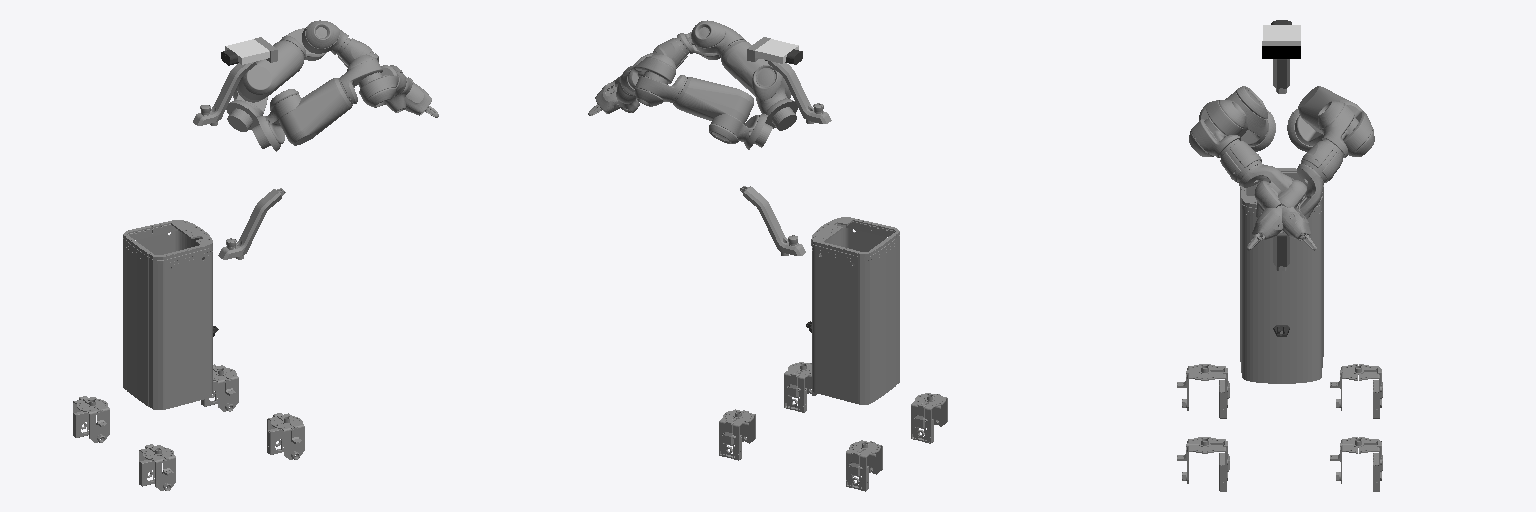
--- What the picture shows (computed from the rendered views, not written in the file) ---
3 views of the same robot in one strip: view 1: azimuth 30°, elevation 25°; view 2: azimuth 150°, elevation 25°; view 3: azimuth 270°, elevation 25° (orthographic).
Robot: abb_myumi_v2 — 68 links, 67 joints (20 revolute, 4 continuous, 1 prismatic, 42 fixed); root link base_link; default pose: every joint at zero.
Links seen in each view (by area): view 1: pillar_body_link, yumi_robr_link_2, yumi_robl_link_2, yumi_robl_link_4, front_right_steering_link, yumi_robr_link_1, rear_left_steering_link, rear_right_steering_link, yumi_robr_link_4, yumi_base_link, yumi_cs_base_link, front_left_steering_link (+4 smaller); view 2: pillar_body_link, yumi_robl_link_2, yumi_robr_link_1, yumi_robl_link_1, rear_left_steering_link, rear_right_steering_link, front_left_steering_link, yumi_base_link, yumi_robl_link_4, yumi_robr_link_3, front_right_steering_link, yumi_robr_link_2 (+4 smaller); view 3: pillar_body_link, yumi_robl_link_4, yumi_robr_link_4, yumi_robr_link_1, yumi_robr_link_3, rear_right_steering_link, front_right_steering_link, front_left_steering_link, rear_left_steering_link, yumi_robl_link_3, yumi_robl_link_2, yumi_robl_link_5 (+9 smaller).
Link boxes in pixels (x1,y1,x2,y2): pillar_body_link: (123,220,212,409); yumi_robr_link_2: (279,78,352,145); yumi_robl_link_2: (237,41,303,102); yumi_robl_link_4: (302,20,373,67); front_right_steering_link: (267,413,304,459); yumi_robr_link_1: (252,89,301,151); rear_left_steering_link: (73,396,109,442); rear_right_steering_link: (139,444,175,490); yumi_robr_link_4: (358,65,406,107); yumi_base_link: (218,188,285,259); yumi_cs_base_link: (193,61,256,125); front_left_steering_link: (201,364,238,411); pillar_body_link: (811,217,899,404); yumi_robl_link_2: (673,77,753,123); yumi_robr_link_1: (752,65,797,130); yumi_robl_link_1: (709,114,772,149); rear_left_steering_link: (846,440,882,491); rear_right_steering_link: (911,393,947,443); front_left_steering_link: (719,409,755,460); yumi_base_link: (740,186,805,255); yumi_robl_link_4: (620,54,675,95); yumi_robr_link_3: (691,20,745,57); front_right_steering_link: (784,362,816,412); yumi_robr_link_2: (721,41,791,98); pillar_body_link: (1239,168,1323,383); yumi_robl_link_4: (1301,101,1358,182); yumi_robr_link_4: (1189,117,1261,182); yumi_robr_link_1: (1225,86,1275,151); yumi_robr_link_3: (1199,100,1245,135); rear_right_steering_link: (1177,364,1229,418); front_right_steering_link: (1177,437,1229,491); front_left_steering_link: (1330,437,1382,491); rear_left_steering_link: (1330,364,1382,418); yumi_robl_link_3: (1343,102,1374,156); yumi_robl_link_2: (1298,86,1352,134); yumi_robl_link_5: (1297,164,1323,218).
Bounding box of the posed robot: 1.1 × 0.54 × 1.29 m (x, y, z).
Meshes: 27 distinct files referenced, 33 mesh visuals loaded (18 binary STL, 5 Collada DAE); not drawn: 5 (reference not matched to a file when rendering).

robot.urdf — abb_myumi_v2:
<?xml version="1.0" ?>
<!-- =================================================================================== -->
<!-- |    This document was autogenerated by xacro from myumi_v2.xacro                 | -->
<!-- |    EDITING THIS FILE BY HAND IS NOT RECOMMENDED                                 | -->
<!-- =================================================================================== -->
<robot name="abb_myumi_v2">
  <!-- ============================================== Include Macros =============================================== -->
  <!-- ================================================ Main Macros ================================================ -->
  <!-- ============================================== Support Macros =============================================== -->
  <!-- ================================================ Main Macros ================================================ -->
  <!-- ============================================== Support Macros =============================================== -->
  <!-- ================================================ Main Macros ================================================ -->
  <!-- ================================================ Main Macros ================================================ -->
  <!-- ============================================== Support Macros =============================================== -->
  <!-- ================================================ Main Macros ================================================ -->
  <!-- ================================================ Main Macros ================================================ -->
  <!-- ================================================ Main Macros ================================================ -->
  <!-- ============================================== Support Macros =============================================== -->
  <link name="base_link">
    <inertial>
      <!-- Mass -->
      <mass value="1.0e-5"/>
      <!-- Inertia -->
      <inertia ixx="1.0e-6" ixy="0.0" ixz="0.0" iyy="1.0e-6" iyz="0.0" izz="1.0e-6"/>
    </inertial>
  </link>
  <link name="chassis_link">
    <visual>
      <!-- Origin -->
      <origin rpy="0.0 0.0 0.0" xyz="0.0 0.0 0.0"/>
      <geometry>
        <mesh filename="package://abb_mp_myumi_description/meshes/harmony_abb_yumi/visual/chassis_link.stl"/>
      </geometry>
      <material name="light_grey">
        <color rgba="0.6 0.6 0.6 1.0"/>
      </material>
    </visual>
    <collision>
      <!-- Origin -->
      <origin rpy="0.0 0.0 0.0" xyz="0.0 0.0 0.0"/>
      <geometry>
        <mesh filename="package://abb_mp_myumi_description/meshes/harmony_abb_yumi/collision/chassis_link.stl"/>
      </geometry>
    </collision>
    <inertial>
      <!-- Origin -->
      <origin rpy="0.0 0.0 0.0" xyz="0.0 0.0 0.0"/>
      <!-- Mass -->
      <mass value="12.67"/>
      <inertia ixx="0.44" ixy="0.0" ixz="0.0" iyy="0.45" iyz="0.0" izz="0.66"/>
    </inertial>
  </link>
  <link name="front_radar_link">
    <inertial>
      <!-- Mass -->
      <mass value="1.0e-5"/>
      <!-- Inertia -->
      <inertia ixx="1.0e-6" ixy="0.0" ixz="0.0" iyy="1.0e-6" iyz="0.0" izz="1.0e-6"/>
    </inertial>
  </link>
  <link name="front_laser_scanner_link">
    <inertial>
      <!-- Mass -->
      <mass value="1.0e-5"/>
      <!-- Inertia -->
      <inertia ixx="1.0e-6" ixy="0.0" ixz="0.0" iyy="1.0e-6" iyz="0.0" izz="1.0e-6"/>
    </inertial>
  </link>
  <link name="rear_laser_scanner_link">
    <inertial>
      <!-- Mass -->
      <mass value="1.0e-5"/>
      <!-- Inertia -->
      <inertia ixx="1.0e-6" ixy="0.0" ixz="0.0" iyy="1.0e-6" iyz="0.0" izz="1.0e-6"/>
    </inertial>
  </link>
  <joint name="chassis_joint" type="fixed">
    <!-- Parent and child -->
    <parent link="base_link"/>
    <child link="chassis_link"/>
    <!-- Origin -->
    <origin rpy="0.0 0.0 0.0" xyz="-0.06 0.0 0.0292"/>
  </joint>
  <joint name="front_radar_joint" type="fixed">
    <!-- Parent and child -->
    <parent link="chassis_link"/>
    <child link="front_radar_link"/>
    <!-- Origin -->
    <origin rpy="-1.5707963267948966 0.0 0.0" xyz="0.35116 0.0 0.08892"/>
  </joint>
  <joint name="front_laser_scanner_joint" type="fixed">
    <!-- Parent and child -->
    <parent link="chassis_link"/>
    <child link="front_laser_scanner_link"/>
    <!-- Origin -->
    <origin rpy="0.0 0.0 0.0" xyz="0.16789 0.0 0.2837"/>
  </joint>
  <joint name="rear_laser_scanner_joint" type="fixed">
    <!-- Parent and child -->
    <parent link="chassis_link"/>
    <child link="rear_laser_scanner_link"/>
    <!-- Origin -->
    <origin rpy="0.0 0.0 3.141592653589793" xyz="-0.17921 0.0 0.2837"/>
  </joint>
  <gazebo reference="chassis_link">
    <material>Gazebo/White</material>
  </gazebo>
  <!-- ================ Subcomponents ================ -->
  <!-- ============================================== Include Macros =============================================== -->
  <!-- ================================================ Main Macros ================================================ -->
  <!-- ============================================== Support Macros =============================================== -->
  <!-- ================================================ Main Macros ================================================ -->
  <!-- ============================================== Support Macros =============================================== -->
  <!-- ================================================ Main Macros ================================================ -->
  <!-- ================================================ Main Macros ================================================ -->
  <!-- ============================================== Support Macros =============================================== -->
  <!-- ================================================ Main Macros ================================================ -->
  <!-- ================================================ Main Macros ================================================ -->
  <!-- ================================================ Main Macros ================================================ -->
  <!-- ============================================== Support Macros =============================================== -->
  <link name="front_left_base_link">
    <inertial>
      <!-- Mass -->
      <mass value="1.0e-5"/>
      <!-- Inertia -->
      <inertia ixx="1.0e-6" ixy="0.0" ixz="0.0" iyy="1.0e-6" iyz="0.0" izz="1.0e-6"/>
    </inertial>
  </link>
  <link name="front_left_steering_link">
    <visual>
      <!-- Origin -->
      <origin rpy="0.0 0.0 0.0" xyz="0.0 0.0 0.0"/>
      <geometry>
        <mesh filename="package://abb_mp_steerable_wheel_description/meshes/sw_v3/visual/steering_link.stl"/>
      </geometry>
      <material name="light_grey">
        <color rgba="0.6 0.6 0.6 1.0"/>
      </material>
    </visual>
    <collision>
      <!-- Origin -->
      <origin rpy="0.0 0.0 0.0" xyz="0.0 0.0 0.0"/>
      <geometry>
        <mesh filename="package://abb_mp_steerable_wheel_description/meshes/sw_v3/collision/steering_link.stl"/>
      </geometry>
    </collision>
    <inertial>
      <!-- Origin -->
      <origin rpy="0.0 1.0000736613927508 0.0" xyz="0.0 0.0 0.0"/>
      <!-- Mass -->
      <mass value="0.6242"/>
      <inertia ixx="0.0018" ixy="0.0" ixz="0.0" iyy="0.0017" iyz="-0.0004" izz="0.0013"/>
    </inertial>
  </link>
  <link name="front_left_drive_wheel_link">
    <visual>
      <!-- Origin -->
      <origin rpy="0.0 0.0 0.0" xyz="0.0 0.0 0.0"/>
      <geometry>
        <mesh filename="package://abb_mp_steerable_wheel_description/meshes/sw_v3/visual/drive_wheel_link.stl"/>
      </geometry>
      <material name="dark_grey">
        <color rgba="0.3 0.3 0.3 1.0"/>
      </material>
    </visual>
    <collision>
      <!-- Origin -->
      <origin rpy="1.5707963267948966 0.0 0.0" xyz="0.0 0.0 0.0"/>
      <geometry>
        <cylinder length="0.047" radius="0.0865"/>
      </geometry>
    </collision>
    <inertial>
      <!-- Origin -->
      <origin rpy="0.0 0.0 0.0" xyz="0.0 0.0 0.0"/>
      <!-- Mass -->
      <mass value="0.6242"/>
      <inertia ixx="0.0018" ixy="0.0" ixz="0.0" iyy="0.0017" iyz="0.0" izz="0.0013"/>
    </inertial>
  </link>
  <joint name="front_left_steering_joint" type="revolute">
    <!-- Parent and child -->
    <parent link="front_left_base_link"/>
    <child link="front_left_steering_link"/>
    <!-- Origin -->
    <origin rpy="0.0 0.0 0.0" xyz="0.0 0.0 0.0"/>
    <axis xyz="0.0 0.0 1.0"/>
    <limit effort="1000.0" lower="-62.83185307179586" upper="62.83185307179586" velocity="62.83185307179586"/>
    <dynamics damping="0.7" friction="0.0"/>
  </joint>
  <joint name="front_left_drive_wheel_joint" type="continuous">
    <!-- Parent and child -->
    <parent link="front_left_steering_link"/>
    <child link="front_left_drive_wheel_link"/>
    <!-- Origin -->
    <origin rpy="0.0 0.0 0.0" xyz="0.0 0.0 -0.0925"/>
    <axis xyz="0.0 1.0 0.0"/>
  </joint>
  <transmission name="front_left_steering_transmission">
    <type>transmission_interface/SimpleTransmission</type>
    <joint name="front_left_steering_joint">
      <hardwareInterface>hardware_interface/PositionJointInterface</hardwareInterface>
    </joint>
    <actuator name="front_left_steering_joint_motor">
      <mechanicalReduction>1.0</mechanicalReduction>
    </actuator>
  </transmission>
  <transmission name="front_left_drive_wheel_transmission">
    <type>transmission_interface/SimpleTransmission</type>
    <joint name="front_left_drive_wheel_joint">
      <hardwareInterface>hardware_interface/VelocityJointInterface</hardwareInterface>
    </joint>
    <actuator name="front_left_drive_wheel_joint_motor">
      <mechanicalReduction>1.0</mechanicalReduction>
    </actuator>
  </transmission>
  <gazebo reference="front_left_steering_link">
    <material>Gazebo/White</material>
  </gazebo>
  <gazebo reference="front_left_drive_wheel_link">
    <material>Gazebo/Grey</material>
    <mu1 value="1.0"/>
    <mu2 value="1.0"/>
    <kp value="10000000.0"/>
    <kd value="1.0"/>
    <fdir1 value="1.0 0.0 0.0"/>
  </gazebo>
  <!-- ============================================== Include Macros =============================================== -->
  <!-- ================================================ Main Macros ================================================ -->
  <!-- ============================================== Support Macros =============================================== -->
  <!-- ================================================ Main Macros ================================================ -->
  <!-- ============================================== Support Macros =============================================== -->
  <!-- ================================================ Main Macros ================================================ -->
  <!-- ================================================ Main Macros ================================================ -->
  <!-- ============================================== Support Macros =============================================== -->
  <!-- ================================================ Main Macros ================================================ -->
  <!-- ================================================ Main Macros ================================================ -->
  <!-- ================================================ Main Macros ================================================ -->
  <!-- ============================================== Support Macros =============================================== -->
  <link name="front_right_base_link">
    <inertial>
      <!-- Mass -->
      <mass value="1.0e-5"/>
      <!-- Inertia -->
      <inertia ixx="1.0e-6" ixy="0.0" ixz="0.0" iyy="1.0e-6" iyz="0.0" izz="1.0e-6"/>
    </inertial>
  </link>
  <link name="front_right_steering_link">
    <visual>
      <!-- Origin -->
      <origin rpy="0.0 0.0 0.0" xyz="0.0 0.0 0.0"/>
      <geometry>
        <mesh filename="package://abb_mp_steerable_wheel_description/meshes/sw_v3/visual/steering_link.stl"/>
      </geometry>
      <material name="light_grey">
        <color rgba="0.6 0.6 0.6 1.0"/>
      </material>
    </visual>
    <collision>
      <!-- Origin -->
      <origin rpy="0.0 0.0 0.0" xyz="0.0 0.0 0.0"/>
      <geometry>
        <mesh filename="package://abb_mp_steerable_wheel_description/meshes/sw_v3/collision/steering_link.stl"/>
      </geometry>
    </collision>
    <inertial>
      <!-- Origin -->
      <origin rpy="0.0 1.0000736613927508 0.0" xyz="0.0 0.0 0.0"/>
      <!-- Mass -->
      <mass value="0.6242"/>
      <inertia ixx="0.0018" ixy="0.0" ixz="0.0" iyy="0.0017" iyz="-0.0004" izz="0.0013"/>
    </inertial>
  </link>
  <link name="front_right_drive_wheel_link">
    <visual>
      <!-- Origin -->
      <origin rpy="0.0 0.0 0.0" xyz="0.0 0.0 0.0"/>
      <geometry>
        <mesh filename="package://abb_mp_steerable_wheel_description/meshes/sw_v3/visual/drive_wheel_link.stl"/>
      </geometry>
      <material name="dark_grey">
        <color rgba="0.3 0.3 0.3 1.0"/>
      </material>
    </visual>
    <collision>
      <!-- Origin -->
      <origin rpy="1.5707963267948966 0.0 0.0" xyz="0.0 0.0 0.0"/>
      <geometry>
        <cylinder length="0.047" radius="0.0865"/>
      </geometry>
    </collision>
    <inertial>
      <!-- Origin -->
      <origin rpy="0.0 0.0 0.0" xyz="0.0 0.0 0.0"/>
      <!-- Mass -->
      <mass value="0.6242"/>
      <inertia ixx="0.0018" ixy="0.0" ixz="0.0" iyy="0.0017" iyz="0.0" izz="0.0013"/>
    </inertial>
  </link>
  <joint name="front_right_steering_joint" type="revolute">
    <!-- Parent and child -->
    <parent link="front_right_base_link"/>
    <child link="front_right_steering_link"/>
    <!-- Origin -->
    <origin rpy="0.0 0.0 0.0" xyz="0.0 0.0 0.0"/>
    <axis xyz="0.0 0.0 1.0"/>
    <limit effort="1000.0" lower="-62.83185307179586" upper="62.83185307179586" velocity="62.83185307179586"/>
    <dynamics damping="0.7" friction="0.0"/>
  </joint>
  <joint name="front_right_drive_wheel_joint" type="continuous">
    <!-- Parent and child -->
    <parent link="front_right_steering_link"/>
    <child link="front_right_drive_wheel_link"/>
    <!-- Origin -->
    <origin rpy="0.0 0.0 0.0" xyz="0.0 0.0 -0.0925"/>
    <axis xyz="0.0 1.0 0.0"/>
  </joint>
  <transmission name="front_right_steering_transmission">
    <type>transmission_interface/SimpleTransmission</type>
    <joint name="front_right_steering_joint">
      <hardwareInterface>hardware_interface/PositionJointInterface</hardwareInterface>
    </joint>
    <actuator name="front_right_steering_joint_motor">
      <mechanicalReduction>1.0</mechanicalReduction>
    </actuator>
  </transmission>
  <transmission name="front_right_drive_wheel_transmission">
    <type>transmission_interface/SimpleTransmission</type>
    <joint name="front_right_drive_wheel_joint">
      <hardwareInterface>hardware_interface/VelocityJointInterface</hardwareInterface>
    </joint>
    <actuator name="front_right_drive_wheel_joint_motor">
      <mechanicalReduction>1.0</mechanicalReduction>
    </actuator>
  </transmission>
  <gazebo reference="front_right_steering_link">
    <material>Gazebo/White</material>
  </gazebo>
  <gazebo reference="front_right_drive_wheel_link">
    <material>Gazebo/Grey</material>
    <mu1 value="1.0"/>
    <mu2 value="1.0"/>
    <kp value="10000000.0"/>
    <kd value="1.0"/>
    <fdir1 value="1.0 0.0 0.0"/>
  </gazebo>
  <!-- ============================================== Include Macros =============================================== -->
  <!-- ================================================ Main Macros ================================================ -->
  <!-- ============================================== Support Macros =============================================== -->
  <!-- ================================================ Main Macros ================================================ -->
  <!-- ============================================== Support Macros =============================================== -->
  <!-- ================================================ Main Macros ================================================ -->
  <!-- ================================================ Main Macros ================================================ -->
  <!-- ============================================== Support Macros =============================================== -->
  <!-- ================================================ Main Macros ================================================ -->
  <!-- ================================================ Main Macros ================================================ -->
  <!-- ================================================ Main Macros ================================================ -->
  <!-- ============================================== Support Macros =============================================== -->
  <link name="rear_right_base_link">
    <inertial>
      <!-- Mass -->
      <mass value="1.0e-5"/>
      <!-- Inertia -->
      <inertia ixx="1.0e-6" ixy="0.0" ixz="0.0" iyy="1.0e-6" iyz="0.0" izz="1.0e-6"/>
    </inertial>
  </link>
  <link name="rear_right_steering_link">
    <visual>
      <!-- Origin -->
      <origin rpy="0.0 0.0 0.0" xyz="0.0 0.0 0.0"/>
      <geometry>
        <mesh filename="package://abb_mp_steerable_wheel_description/meshes/sw_v3/visual/steering_link.stl"/>
      </geometry>
      <material name="light_grey">
        <color rgba="0.6 0.6 0.6 1.0"/>
      </material>
    </visual>
    <collision>
      <!-- Origin -->
      <origin rpy="0.0 0.0 0.0" xyz="0.0 0.0 0.0"/>
      <geometry>
        <mesh filename="package://abb_mp_steerable_wheel_description/meshes/sw_v3/collision/steering_link.stl"/>
      </geometry>
    </collision>
    <inertial>
      <!-- Origin -->
      <origin rpy="0.0 1.0000736613927508 0.0" xyz="0.0 0.0 0.0"/>
      <!-- Mass -->
      <mass value="0.6242"/>
      <inertia ixx="0.0018" ixy="0.0" ixz="0.0" iyy="0.0017" iyz="-0.0004" izz="0.0013"/>
    </inertial>
  </link>
  <link name="rear_right_drive_wheel_link">
    <visual>
      <!-- Origin -->
      <origin rpy="0.0 0.0 0.0" xyz="0.0 0.0 0.0"/>
      <geometry>
        <mesh filename="package://abb_mp_steerable_wheel_description/meshes/sw_v3/visual/drive_wheel_link.stl"/>
      </geometry>
      <material name="dark_grey">
        <color rgba="0.3 0.3 0.3 1.0"/>
      </material>
    </visual>
    <collision>
      <!-- Origin -->
      <origin rpy="1.5707963267948966 0.0 0.0" xyz="0.0 0.0 0.0"/>
      <geometry>
        <cylinder length="0.047" radius="0.0865"/>
      </geometry>
    </collision>
    <inertial>
      <!-- Origin -->
      <origin rpy="0.0 0.0 0.0" xyz="0.0 0.0 0.0"/>
      <!-- Mass -->
      <mass value="0.6242"/>
      <inertia ixx="0.0018" ixy="0.0" ixz="0.0" iyy="0.0017" iyz="0.0" izz="0.0013"/>
    </inertial>
  </link>
  <joint name="rear_right_steering_joint" type="revolute">
    <!-- Parent and child -->
    <parent link="rear_right_base_link"/>
    <child link="rear_right_steering_link"/>
    <!-- Origin -->
    <origin rpy="0.0 0.0 0.0" xyz="0.0 0.0 0.0"/>
    <axis xyz="0.0 0.0 1.0"/>
    <limit effort="1000.0" lower="-62.83185307179586" upper="62.83185307179586" velocity="62.83185307179586"/>
    <dynamics damping="0.7" friction="0.0"/>
  </joint>
  <joint name="rear_right_drive_wheel_joint" type="continuous">
    <!-- Parent and child -->
    <parent link="rear_right_steering_link"/>
    <child link="rear_right_drive_wheel_link"/>
    <!-- Origin -->
    <origin rpy="0.0 0.0 0.0" xyz="0.0 0.0 -0.0925"/>
    <axis xyz="0.0 1.0 0.0"/>
  </joint>
  <transmission name="rear_right_steering_transmission">
    <type>transmission_interface/SimpleTransmission</type>
    <joint name="rear_right_steering_joint">
      <hardwareInterface>hardware_interface/PositionJointInterface</hardwareInterface>
    </joint>
    <actuator name="rear_right_steering_joint_motor">
      <mechanicalReduction>1.0</mechanicalReduction>
    </actuator>
  </transmission>
  <transmission name="rear_right_drive_wheel_transmission">
    <type>transmission_interface/SimpleTransmission</type>
    <joint name="rear_right_drive_wheel_joint">
      <hardwareInterface>hardware_interface/VelocityJointInterface</hardwareInterface>
    </joint>
    <actuator name="rear_right_drive_wheel_joint_motor">
      <mechanicalReduction>1.0</mechanicalReduction>
    </actuator>
  </transmission>
  <gazebo reference="rear_right_steering_link">
    <material>Gazebo/White</material>
  </gazebo>
  <gazebo reference="rear_right_drive_wheel_link">
    <material>Gazebo/Grey</material>
    <mu1 value="1.0"/>
    <mu2 value="1.0"/>
    <kp value="10000000.0"/>
    <kd value="1.0"/>
    <fdir1 value="1.0 0.0 0.0"/>
  </gazebo>
  <!-- ============================================== Include Macros =============================================== -->
  <!-- ================================================ Main Macros ================================================ -->
  <!-- ============================================== Support Macros =============================================== -->
  <!-- ================================================ Main Macros ================================================ -->
  <!-- ============================================== Support Macros =============================================== -->
  <!-- ================================================ Main Macros ================================================ -->
  <!-- ================================================ Main Macros ================================================ -->
  <!-- ============================================== Support Macros =============================================== -->
  <!-- ================================================ Main Macros ================================================ -->
  <!-- ================================================ Main Macros ================================================ -->
  <!-- ================================================ Main Macros ================================================ -->
  <!-- ============================================== Support Macros =============================================== -->
  <link name="rear_left_base_link">
    <inertial>
      <!-- Mass -->
      <mass value="1.0e-5"/>
      <!-- Inertia -->
      <inertia ixx="1.0e-6" ixy="0.0" ixz="0.0" iyy="1.0e-6" iyz="0.0" izz="1.0e-6"/>
    </inertial>
  </link>
  <link name="rear_left_steering_link">
    <visual>
      <!-- Origin -->
      <origin rpy="0.0 0.0 0.0" xyz="0.0 0.0 0.0"/>
      <geometry>
        <mesh filename="package://abb_mp_steerable_wheel_description/meshes/sw_v3/visual/steering_link.stl"/>
      </geometry>
      <material name="light_grey">
        <color rgba="0.6 0.6 0.6 1.0"/>
      </material>
    </visual>
    <collision>
      <!-- Origin -->
      <origin rpy="0.0 0.0 0.0" xyz="0.0 0.0 0.0"/>
      <geometry>
        <mesh filename="package://abb_mp_steerable_wheel_description/meshes/sw_v3/collision/steering_link.stl"/>
      </geometry>
    </collision>
    <inertial>
      <!-- Origin -->
      <origin rpy="0.0 1.0000736613927508 0.0" xyz="0.0 0.0 0.0"/>
      <!-- Mass -->
      <mass value="0.6242"/>
      <inertia ixx="0.0018" ixy="0.0" ixz="0.0" iyy="0.0017" iyz="-0.0004" izz="0.0013"/>
    </inertial>
  </link>
  <link name="rear_left_drive_wheel_link">
    <visual>
      <!-- Origin -->
      <origin rpy="0.0 0.0 0.0" xyz="0.0 0.0 0.0"/>
      <geometry>
        <mesh filename="package://abb_mp_steerable_wheel_description/meshes/sw_v3/visual/drive_wheel_link.stl"/>
      </geometry>
      <material name="dark_grey">
        <color rgba="0.3 0.3 0.3 1.0"/>
      </material>
    </visual>
    <collision>
      <!-- Origin -->
      <origin rpy="1.5707963267948966 0.0 0.0" xyz="0.0 0.0 0.0"/>
      <geometry>
        <cylinder length="0.047" radius="0.0865"/>
      </geometry>
    </collision>
    <inertial>
      <!-- Origin -->
      <origin rpy="0.0 0.0 0.0" xyz="0.0 0.0 0.0"/>
      <!-- Mass -->
      <mass value="0.6242"/>
      <inertia ixx="0.0018" ixy="0.0" ixz="0.0" iyy="0.0017" iyz="0.0" izz="0.0013"/>
    </inertial>
  </link>
  <joint name="rear_left_steering_joint" type="revolute">
    <!-- Parent and child -->
    <parent link="rear_left_base_link"/>
    <child link="rear_left_steering_link"/>
    <!-- Origin -->
    <origin rpy="0.0 0.0 0.0" xyz="0.0 0.0 0.0"/>
    <axis xyz="0.0 0.0 1.0"/>
    <limit effort="1000.0" lower="-62.83185307179586" upper="62.83185307179586" velocity="62.83185307179586"/>
    <dynamics damping="0.7" friction="0.0"/>
  </joint>
  <joint name="rear_left_drive_wheel_joint" type="continuous">
    <!-- Parent and child -->
    <parent link="rear_left_steering_link"/>
    <child link="rear_left_drive_wheel_link"/>
    <!-- Origin -->
    <origin rpy="0.0 0.0 0.0" xyz="0.0 0.0 -0.0925"/>
    <axis xyz="0.0 1.0 0.0"/>
  </joint>
  <transmission name="rear_left_steering_transmission">
    <type>transmission_interface/SimpleTransmission</type>
    <joint name="rear_left_steering_joint">
      <hardwareInterface>hardware_interface/PositionJointInterface</hardwareInterface>
    </joint>
    <actuator name="rear_left_steering_joint_motor">
      <mechanicalReduction>1.0</mechanicalReduction>
    </actuator>
  </transmission>
  <transmission name="rear_left_drive_wheel_transmission">
    <type>transmission_interface/SimpleTransmission</type>
    <joint name="rear_left_drive_wheel_joint">
      <hardwareInterface>hardware_interface/VelocityJointInterface</hardwareInterface>
    </joint>
    <actuator name="rear_left_drive_wheel_joint_motor">
      <mechanicalReduction>1.0</mechanicalReduction>
    </actuator>
  </transmission>
  <gazebo reference="rear_left_steering_link">
    <material>Gazebo/White</material>
  </gazebo>
  <gazebo reference="rear_left_drive_wheel_link">
    <material>Gazebo/Grey</material>
    <mu1 value="1.0"/>
    <mu2 value="1.0"/>
    <kp value="10000000.0"/>
    <kd value="1.0"/>
    <fdir1 value="1.0 0.0 0.0"/>
  </gazebo>
  <joint name="front_left_joint" type="fixed">
    <!-- Parent and child -->
    <parent link="chassis_link"/>
    <child link="front_left_base_link"/>
    <!-- Origin -->
    <origin rpy="0.0 0.0 0.0" xyz="0.285 0.2002 0.1498"/>
  </joint>
  <joint name="front_right_joint" type="fixed">
    <!-- Parent and child -->
    <parent link="chassis_link"/>
    <child link="front_right_base_link"/>
    <!-- Origin -->
    <origin rpy="0.0 0.0 0.0" xyz="0.285 -0.2002 0.1498"/>
  </joint>
  <joint name="rear_right_joint" type="fixed">
    <!-- Parent and child -->
    <parent link="chassis_link"/>
    <child link="rear_right_base_link"/>
    <!-- Origin -->
    <origin rpy="0.0 0.0 0.0" xyz="-0.165 -0.2002 0.1498"/>
  </joint>
  <joint name="rear_left_joint" type="fixed">
    <!-- Parent and child -->
    <parent link="chassis_link"/>
    <child link="rear_left_base_link"/>
    <!-- Origin -->
    <origin rpy="0.0 0.0 0.0" xyz="-0.165 0.2002 0.1498"/>
  </joint>
  <!-- ============================================== Include Macros =============================================== -->
  <!-- ================================================ Main Macros ================================================ -->
  <!-- ============================================== Support Macros =============================================== -->
  <!-- ================================================ Main Macros ================================================ -->
  <!-- ============================================== Support Macros =============================================== -->
  <!-- ================================================ Main Macros ================================================ -->
  <!-- ================================================ Main Macros ================================================ -->
  <!-- ============================================== Support Macros =============================================== -->
  <!-- ================================================ Main Macros ================================================ -->
  <!-- ================================================ Main Macros ================================================ -->
  <!-- ================================================ Main Macros ================================================ -->
  <!-- ============================================== Support Macros =============================================== -->
  <link name="pillar_base_link">
    <visual>
      <!-- Origin -->
      <origin rpy="0.0 0.0 0.0" xyz="0.0 0.0 0.241"/>
      <geometry>
        <mesh filename="package://abb_mp_telescopic_pillar_description/meshes/tp_v2/visual/base_link.stl"/>
      </geometry>
      <material name="dark_grey">
        <color rgba="0.3 0.3 0.3 1.0"/>
      </material>
    </visual>
    <collision>
      <!-- Origin -->
      <origin rpy="0.0 0.0 0.0" xyz="0.0 0.0 0.241"/>
      <geometry>
        <mesh filename="package://abb_mp_telescopic_pillar_description/meshes/tp_v2/collision/base_link.stl"/>
      </geometry>
    </collision>
    <inertial>
      <!-- Origin -->
      <origin rpy="0.0 0.0 0.0" xyz="0.0 0.0 0.241"/>
      <!-- Mass -->
      <mass value="1e-05"/>
      <inertia ixx="1e-06" ixy="0.0" ixz="0.0" iyy="1e-06" iyz="0.0" izz="1e-06"/>
    </inertial>
  </link>
  <link name="pillar_body_link">
    <visual>
      <!-- Origin -->
      <origin rpy="0.0 0.0 0.0" xyz="0.0 0.0 0.0"/>
      <geometry>
        <mesh filename="package://abb_mp_telescopic_pillar_description/meshes/tp_v2/visual/body_link.stl"/>
      </geometry>
      <material name="light_grey">
        <color rgba="0.6 0.6 0.6 1.0"/>
      </material>
    </visual>
    <collision>
      <!-- Origin -->
      <origin rpy="0.0 0.0 0.0" xyz="0.0 0.0 0.0"/>
      <geometry>
        <mesh filename="package://abb_mp_telescopic_pillar_description/meshes/tp_v2/collision/body_link.stl"/>
      </geometry>
    </collision>
    <inertial>
      <!-- Origin -->
      <origin rpy="0.0 0.0 0.0" xyz="0.0 0.0 0.0085"/>
      <!-- Mass -->
      <mass value="1e-05"/>
      <inertia ixx="1e-06" ixy="0.0" ixz="0.0" iyy="1e-06" iyz="0.0" izz="1e-06"/>
    </inertial>
  </link>
  <link name="pillar_top_link">
    <inertial>
      <!-- Mass -->
      <mass value="1.0e-5"/>
      <!-- Inertia -->
      <inertia ixx="1.0e-6" ixy="0.0" ixz="0.0" iyy="1.0e-6" iyz="0.0" izz="1.0e-6"/>
    </inertial>
  </link>
  <joint name="pillar_body_joint" type="prismatic">
    <!-- Parent and child -->
    <parent link="pillar_base_link"/>
    <child link="pillar_body_link"/>
    <!-- Origin -->
    <origin rpy="0.0 0.0 0.0" xyz="0.0 0.0 0.241"/>
    <axis xyz="0.0 0.0 1.0"/>
    <limit effort="0.1" lower="0.0" upper="0.45" velocity="0.1"/>
  </joint>
  <joint name="pillar_top_joint" type="fixed">
    <!-- Parent and child -->
    <parent link="pillar_body_link"/>
    <child link="pillar_top_link"/>
    <!-- Origin -->
    <origin rpy="0.0 0.0 0.0" xyz="0.0 0.0 0.5125"/>
  </joint>
  <transmission name="pillar_body_transmission">
    <type>transmission_interface/SimpleTransmission</type>
    <joint name="pillar_body_joint">
      <hardwareInterface>hardware_interface/PositionJointInterface</hardwareInterface>
    </joint>
    <actuator name="pillar_body_joint_motor">
      <mechanicalReduction>1.0</mechanicalReduction>
    </actuator>
  </transmission>
  <gazebo reference="pillar_base_link">
    <material>Gazebo/Grey</material>
  </gazebo>
  <gazebo reference="pillar_body_link">
    <material>Gazebo/White</material>
  </gazebo>
  <joint name="chassi_pillar_joint" type="fixed">
    <!-- Parent and child -->
    <parent link="chassis_link"/>
    <child link="pillar_base_link"/>
    <!-- Origin -->
    <origin rpy="0.0 0.0 0.0" xyz="0.0 0.0 0.0"/>
  </joint>
  <!-- ============================================== Include Macros =============================================== -->
  <!-- ================================================ Main Macros ================================================ -->
  <!-- ============================================== Support Macros =============================================== -->
  <!-- ================================================ Main Macros ================================================ -->
  <!-- ============================================== Support Macros =============================================== -->
  <!-- ================================================ Main Macros ================================================ -->
  <!-- ================================================ Main Macros ================================================ -->
  <!-- ============================================== Support Macros =============================================== -->
  <!-- ================================================ Main Macros ================================================ -->
  <!-- ================================================ Main Macros ================================================ -->
  <!-- ================================================ Main Macros ================================================ -->
  <!-- ============================================== Support Macros =============================================== -->
  <link name="yumi_base_link">
    <visual>
      <!-- Origin -->
      <origin rpy="0.0 0.0 0.0" xyz="0.0 0.0 0.0"/>
      <geometry>
        <mesh filename="package://abb_mp_irb14000_description/meshes/irb14000_05_50/visual/base_link.stl"/>
      </geometry>
      <material name="light_grey">
        <color rgba="0.6 0.6 0.6 1.0"/>
      </material>
    </visual>
    <collision>
      <!-- Origin -->
      <origin rpy="0.0 0.0 0.0" xyz="0.0 0.0 0.0"/>
      <geometry>
        <mesh filename="package://abb_mp_irb14000_description/meshes/irb14000_05_50/collision/base_link.stl"/>
      </geometry>
    </collision>
    <inertial>
      <!-- Origin -->
      <origin rpy="0.0 0.0 0.0" xyz="0.0 0.0 0.0"/>
      <!-- Mass -->
      <mass value="1e-05"/>
      <inertia ixx="1e-06" ixy="0.0" ixz="0.0" iyy="1e-06" iyz="0.0" izz="1e-06"/>
    </inertial>
  </link>
  <link name="yumi_base">
    <inertial>
      <!-- Mass -->
      <mass value="1.0e-5"/>
      <!-- Inertia -->
      <inertia ixx="1.0e-6" ixy="0.0" ixz="0.0" iyy="1.0e-6" iyz="0.0" izz="1.0e-6"/>
    </inertial>
  </link>
  <link name="yumi_robl_base_link">
    <inertial>
      <!-- Mass -->
      <mass value="1.0e-5"/>
      <!-- Inertia -->
      <inertia ixx="1.0e-6" ixy="0.0" ixz="0.0" iyy="1.0e-6" iyz="0.0" izz="1.0e-6"/>
    </inertial>
  </link>
  <link name="yumi_robl_link_1">
    <visual>
      <!-- Origin -->
      <origin rpy="0.0 0.0 0.0" xyz="0.0 0.0 0.0"/>
      <geometry>
        <mesh filename="package://abb_mp_irb14000_description/meshes/irb14000_05_50/visual/robl_link_1.stl"/>
      </geometry>
      <material name="light_grey">
        <color rgba="0.6 0.6 0.6 1.0"/>
      </material>
    </visual>
    <collision>
      <!-- Origin -->
      <origin rpy="0.0 0.0 0.0" xyz="0.0 0.0 0.0"/>
      <geometry>
        <mesh filename="package://abb_mp_irb14000_description/meshes/irb14000_05_50/collision/robl_link_1.stl"/>
      </geometry>
    </collision>
    <inertial>
      <!-- Origin -->
      <origin rpy="0.0 0.0 0.0" xyz="0.0 0.0 0.0"/>
      <!-- Mass -->
      <mass value="1e-05"/>
      <inertia ixx="1e-06" ixy="0.0" ixz="0.0" iyy="1e-06" iyz="0.0" izz="1e-06"/>
    </inertial>
  </link>
  <link name="yumi_robl_link_2">
    <visual>
      <!-- Origin -->
      <origin rpy="0.0 0.0 0.0" xyz="0.0 0.0 0.0"/>
      <geometry>
        <mesh filename="package://abb_mp_irb14000_description/meshes/irb14000_05_50/visual/robl_link_2.stl"/>
      </geometry>
      <material name="light_grey">
        <color rgba="0.6 0.6 0.6 1.0"/>
      </material>
    </visual>
    <collision>
      <!-- Origin -->
      <origin rpy="0.0 0.0 0.0" xyz="0.0 0.0 0.0"/>
      <geometry>
        <mesh filename="package://abb_mp_irb14000_description/meshes/irb14000_05_50/collision/robl_link_2.stl"/>
      </geometry>
    </collision>
    <inertial>
      <!-- Origin -->
      <origin rpy="0.0 0.0 0.0" xyz="0.0 0.0 0.0"/>
      <!-- Mass -->
      <mass value="1e-05"/>
      <inertia ixx="1e-06" ixy="0.0" ixz="0.0" iyy="1e-06" iyz="0.0" izz="1e-06"/>
    </inertial>
  </link>
  <link name="yumi_robl_link_3">
    <visual>
      <!-- Origin -->
      <origin rpy="0.0 0.0 0.0" xyz="0.0 0.0 0.0"/>
      <geometry>
        <mesh filename="package://abb_mp_irb14000_description/meshes/irb14000_05_50/visual/robl_link_3.stl"/>
      </geometry>
      <material name="light_grey">
        <color rgba="0.6 0.6 0.6 1.0"/>
      </material>
    </visual>
    <collision>
      <!-- Origin -->
      <origin rpy="0.0 0.0 0.0" xyz="0.0 0.0 0.0"/>
      <geometry>
        <mesh filename="package://abb_mp_irb14000_description/meshes/irb14000_05_50/collision/robl_link_3.stl"/>
      </geometry>
    </collision>
    <inertial>
      <!-- Origin -->
      <origin rpy="0.0 0.0 0.0" xyz="0.0 0.0 0.0"/>
      <!-- Mass -->
      <mass value="1e-05"/>
      <inertia ixx="1e-06" ixy="0.0" ixz="0.0" iyy="1e-06" iyz="0.0" izz="1e-06"/>
    </inertial>
  </link>
  <link name="yumi_robl_link_4">
    <visual>
      <!-- Origin -->
      <origin rpy="0.0 0.0 0.0" xyz="0.0 0.0 0.0"/>
      <geometry>
        <mesh filename="package://abb_mp_irb14000_description/meshes/irb14000_05_50/visual/robl_link_4.stl"/>
      </geometry>
      <material name="light_grey">
        <color rgba="0.6 0.6 0.6 1.0"/>
      </material>
    </visual>
    <collision>
      <!-- Origin -->
      <origin rpy="0.0 0.0 0.0" xyz="0.0 0.0 0.0"/>
      <geometry>
        <mesh filename="package://abb_mp_irb14000_description/meshes/irb14000_05_50/collision/robl_link_4.stl"/>
      </geometry>
    </collision>
    <inertial>
      <!-- Origin -->
      <origin rpy="0.0 0.0 0.0" xyz="0.0 0.0 0.0"/>
      <!-- Mass -->
      <mass value="1e-05"/>
      <inertia ixx="1e-06" ixy="0.0" ixz="0.0" iyy="1e-06" iyz="0.0" izz="1e-06"/>
    </inertial>
  </link>
  <link name="yumi_robl_link_5">
    <visual>
      <!-- Origin -->
      <origin rpy="0.0 0.0 0.0" xyz="0.0 0.0 0.0"/>
      <geometry>
        <mesh filename="package://abb_mp_irb14000_description/meshes/irb14000_05_50/visual/robl_link_5.stl"/>
      </geometry>
      <material name="light_grey">
        <color rgba="0.6 0.6 0.6 1.0"/>
      </material>
    </visual>
    <collision>
      <!-- Origin -->
      <origin rpy="0.0 0.0 0.0" xyz="0.0 0.0 0.0"/>
      <geometry>
        <mesh filename="package://abb_mp_irb14000_description/meshes/irb14000_05_50/collision/robl_link_5.stl"/>
      </geometry>
    </collision>
    <inertial>
      <!-- Origin -->
      <origin rpy="0.0 0.0 0.0" xyz="0.0 0.0 0.0"/>
      <!-- Mass -->
      <mass value="1e-05"/>
      <inertia ixx="1e-06" ixy="0.0" ixz="0.0" iyy="1e-06" iyz="0.0" izz="1e-06"/>
    </inertial>
  </link>
  <link name="yumi_robl_link_6">
    <visual>
      <!-- Origin -->
      <origin rpy="0.0 0.0 0.0" xyz="0.0 0.0 0.0"/>
      <geometry>
        <mesh filename="package://abb_mp_irb14000_description/meshes/irb14000_05_50/visual/robl_link_6.stl"/>
      </geometry>
      <material name="light_grey">
        <color rgba="0.6 0.6 0.6 1.0"/>
      </material>
    </visual>
    <collision>
      <!-- Origin -->
      <origin rpy="0.0 0.0 0.0" xyz="0.0 0.0 0.0"/>
      <geometry>
        <mesh filename="package://abb_mp_irb14000_description/meshes/irb14000_05_50/collision/robl_link_6.stl"/>
      </geometry>
    </collision>
    <inertial>
      <!-- Origin -->
      <origin rpy="0.0 0.0 0.0" xyz="0.0 0.0 0.0"/>
      <!-- Mass -->
      <mass value="1e-05"/>
      <inertia ixx="1e-06" ixy="0.0" ixz="0.0" iyy="1e-06" iyz="0.0" izz="1e-06"/>
    </inertial>
  </link>
  <link name="yumi_robl_link_7">
    <visual>
      <!-- Origin -->
      <origin rpy="0.0 0.0 0.0" xyz="0.0 0.0 0.0"/>
      <geometry>
        <mesh filename="package://abb_mp_irb14000_description/meshes/irb14000_05_50/visual/robl_link_7.stl"/>
      </geometry>
      <material name="light_grey">
        <color rgba="0.6 0.6 0.6 1.0"/>
      </material>
    </visual>
    <collision>
      <!-- Origin -->
      <origin rpy="0.0 0.0 0.0" xyz="0.0 0.0 0.0"/>
      <geometry>
        <mesh filename="package://abb_mp_irb14000_description/meshes/irb14000_05_50/collision/robl_link_7.stl"/>
      </geometry>
    </collision>
    <inertial>
      <!-- Origin -->
      <origin rpy="0.0 0.0 0.0" xyz="0.0 0.0 0.0"/>
      <!-- Mass -->
      <mass value="1e-05"/>
      <inertia ixx="1e-06" ixy="0.0" ixz="0.0" iyy="1e-06" iyz="0.0" izz="1e-06"/>
    </inertial>
  </link>
  <link name="yumi_robl_flange">
    <inertial>
      <!-- Mass -->
      <mass value="1.0e-5"/>
      <!-- Inertia -->
      <inertia ixx="1.0e-6" ixy="0.0" ixz="0.0" iyy="1.0e-6" iyz="0.0" izz="1.0e-6"/>
    </inertial>
  </link>
  <link name="yumi_robl_tool0">
    <inertial>
      <!-- Mass -->
      <mass value="1.0e-5"/>
      <!-- Inertia -->
      <inertia ixx="1.0e-6" ixy="0.0" ixz="0.0" iyy="1.0e-6" iyz="0.0" izz="1.0e-6"/>
    </inertial>
  </link>
  <link name="yumi_robr_base_link">
    <inertial>
      <!-- Mass -->
      <mass value="1.0e-5"/>
      <!-- Inertia -->
      <inertia ixx="1.0e-6" ixy="0.0" ixz="0.0" iyy="1.0e-6" iyz="0.0" izz="1.0e-6"/>
    </inertial>
  </link>
  <link name="yumi_robr_link_1">
    <visual>
      <!-- Origin -->
      <origin rpy="0 0 0" xyz="0.0 0.0 0.0"/>
      <geometry>
        <mesh filename="package://abb_mp_irb14000_description/meshes/irb14000_05_50/visual/robr_link_1.stl"/>
      </geometry>
      <material name="light_grey">
        <color rgba="0.6 0.6 0.6 1.0"/>
      </material>
    </visual>
    <collision>
      <!-- Origin -->
      <origin rpy="0 0 0" xyz="0.0 0.0 0.0"/>
      <geometry>
        <mesh filename="package://abb_mp_irb14000_description/meshes/irb14000_05_50/collision/robr_link_1.stl"/>
      </geometry>
    </collision>
    <inertial>
      <!-- Origin -->
      <origin rpy="0.0 0.0 0.0" xyz="0.0 0.0 0.0"/>
      <!-- Mass -->
      <mass value="1e-05"/>
      <inertia ixx="1e-06" ixy="0.0" ixz="0.0" iyy="1e-06" iyz="0.0" izz="1e-06"/>
    </inertial>
  </link>
  <link name="yumi_robr_link_2">
    <visual>
      <!-- Origin -->
      <origin rpy="0.0 0.0 0.0" xyz="0.0 0.0 0.0"/>
      <geometry>
        <mesh filename="package://abb_mp_irb14000_description/meshes/irb14000_05_50/visual/robr_link_2.stl"/>
      </geometry>
      <material name="light_grey">
        <color rgba="0.6 0.6 0.6 1.0"/>
      </material>
    </visual>
    <collision>
      <!-- Origin -->
      <origin rpy="0.0 0.0 0.0" xyz="0.0 0.0 0.0"/>
      <geometry>
        <mesh filename="package://abb_mp_irb14000_description/meshes/irb14000_05_50/collision/robr_link_2.stl"/>
      </geometry>
    </collision>
    <inertial>
      <!-- Origin -->
      <origin rpy="0.0 0.0 0.0" xyz="0.0 0.0 0.0"/>
      <!-- Mass -->
      <mass value="1e-05"/>
      <inertia ixx="1e-06" ixy="0.0" ixz="0.0" iyy="1e-06" iyz="0.0" izz="1e-06"/>
    </inertial>
  </link>
  <link name="yumi_robr_link_3">
    <visual>
      <!-- Origin -->
      <origin rpy="0.0 0.0 0.0" xyz="0.0 0.0 0.0"/>
      <geometry>
        <mesh filename="package://abb_mp_irb14000_description/meshes/irb14000_05_50/visual/robr_link_3.stl"/>
      </geometry>
      <material name="light_grey">
        <color rgba="0.6 0.6 0.6 1.0"/>
      </material>
    </visual>
    <collision>
      <!-- Origin -->
      <origin rpy="0.0 0.0 0.0" xyz="0.0 0.0 0.0"/>
      <geometry>
        <mesh filename="package://abb_mp_irb14000_description/meshes/irb14000_05_50/collision/robr_link_3.stl"/>
      </geometry>
    </collision>
    <inertial>
      <!-- Origin -->
      <origin rpy="0.0 0.0 0.0" xyz="0.0 0.0 0.0"/>
      <!-- Mass -->
      <mass value="1e-05"/>
      <inertia ixx="1e-06" ixy="0.0" ixz="0.0" iyy="1e-06" iyz="0.0" izz="1e-06"/>
    </inertial>
  </link>
  <link name="yumi_robr_link_4">
    <visual>
      <!-- Origin -->
      <origin rpy="0.0 0.0 0.0" xyz="0.0 0.0 0.0"/>
      <geometry>
        <mesh filename="package://abb_mp_irb14000_description/meshes/irb14000_05_50/visual/robr_link_4.stl"/>
      </geometry>
      <material name="light_grey">
        <color rgba="0.6 0.6 0.6 1.0"/>
      </material>
    </visual>
    <collision>
      <!-- Origin -->
      <origin rpy="0.0 0.0 0.0" xyz="0.0 0.0 0.0"/>
      <geometry>
        <mesh filename="package://abb_mp_irb14000_description/meshes/irb14000_05_50/collision/robr_link_4.stl"/>
      </geometry>
    </collision>
    <inertial>
      <!-- Origin -->
      <origin rpy="0.0 0.0 0.0" xyz="0.0 0.0 0.0"/>
      <!-- Mass -->
      <mass value="1e-05"/>
      <inertia ixx="1e-06" ixy="0.0" ixz="0.0" iyy="1e-06" iyz="0.0" izz="1e-06"/>
    </inertial>
  </link>
  <link name="yumi_robr_link_5">
    <visual>
      <!-- Origin -->
      <origin rpy="0.0 0.0 0.0" xyz="0.0 0.0 0.0"/>
      <geometry>
        <mesh filename="package://abb_mp_irb14000_description/meshes/irb14000_05_50/visual/robr_link_5.stl"/>
      </geometry>
      <material name="light_grey">
        <color rgba="0.6 0.6 0.6 1.0"/>
      </material>
    </visual>
    <collision>
      <!-- Origin -->
      <origin rpy="0.0 0.0 0.0" xyz="0.0 0.0 0.0"/>
      <geometry>
        <mesh filename="package://abb_mp_irb14000_description/meshes/irb14000_05_50/collision/robr_link_5.stl"/>
      </geometry>
    </collision>
    <inertial>
      <!-- Origin -->
      <origin rpy="0.0 0.0 0.0" xyz="0.0 0.0 0.0"/>
      <!-- Mass -->
      <mass value="1e-05"/>
      <inertia ixx="1e-06" ixy="0.0" ixz="0.0" iyy="1e-06" iyz="0.0" izz="1e-06"/>
    </inertial>
  </link>
  <link name="yumi_robr_link_6">
    <visual>
      <!-- Origin -->
      <origin rpy="0.0 0.0 0.0" xyz="0.0 0.0 0.0"/>
      <geometry>
        <mesh filename="package://abb_mp_irb14000_description/meshes/irb14000_05_50/visual/robr_link_6.stl"/>
      </geometry>
      <material name="light_grey">
        <color rgba="0.6 0.6 0.6 1.0"/>
      </material>
    </visual>
    <collision>
      <!-- Origin -->
      <origin rpy="0.0 0.0 0.0" xyz="0.0 0.0 0.0"/>
      <geometry>
        <mesh filename="package://abb_mp_irb14000_description/meshes/irb14000_05_50/collision/robr_link_6.stl"/>
      </geometry>
    </collision>
    <inertial>
      <!-- Origin -->
      <origin rpy="0.0 0.0 0.0" xyz="0.0 0.0 0.0"/>
      <!-- Mass -->
      <mass value="1e-05"/>
      <inertia ixx="1e-06" ixy="0.0" ixz="0.0" iyy="1e-06" iyz="0.0" izz="1e-06"/>
    </inertial>
  </link>
  <link name="yumi_robr_link_7">
    <visual>
      <!-- Origin -->
      <origin rpy="0.0 0.0 0.0" xyz="0.0 0.0 0.0"/>
      <geometry>
        <mesh filename="package://abb_mp_irb14000_description/meshes/irb14000_05_50/visual/robr_link_7.stl"/>
      </geometry>
      <material name="light_grey">
        <color rgba="0.6 0.6 0.6 1.0"/>
      </material>
    </visual>
    <collision>
      <!-- Origin -->
      <origin rpy="0.0 0.0 0.0" xyz="0.0 0.0 0.0"/>
      <geometry>
        <mesh filename="package://abb_mp_irb14000_description/meshes/irb14000_05_50/collision/robr_link_7.stl"/>
      </geometry>
    </collision>
    <inertial>
      <!-- Origin -->
      <origin rpy="0.0 0.0 0.0" xyz="0.0 0.0 0.0"/>
      <!-- Mass -->
      <mass value="1e-05"/>
      <inertia ixx="1e-06" ixy="0.0" ixz="0.0" iyy="1e-06" iyz="0.0" izz="1e-06"/>
    </inertial>
  </link>
  <link name="yumi_robr_flange">
    <inertial>
      <!-- Mass -->
      <mass value="1.0e-5"/>
      <!-- Inertia -->
      <inertia ixx="1.0e-6" ixy="0.0" ixz="0.0" iyy="1.0e-6" iyz="0.0" izz="1.0e-6"/>
    </inertial>
  </link>
  <link name="yumi_robr_tool0">
    <inertial>
      <!-- Mass -->
      <mass value="1.0e-5"/>
      <!-- Inertia -->
      <inertia ixx="1.0e-6" ixy="0.0" ixz="0.0" iyy="1.0e-6" iyz="0.0" izz="1.0e-6"/>
    </inertial>
  </link>
  <joint name="yumi_base_joint" type="fixed">
    <!-- Parent and child -->
    <parent link="yumi_base_link"/>
    <child link="yumi_base"/>
    <!-- Origin -->
    <origin rpy="0.0 0.0 0.0" xyz="0.0 0.0 0.0"/>
  </joint>
  <joint name="yumi_robl_base_joint" type="fixed">
    <!-- Parent and child -->
    <parent link="yumi_base_link"/>
    <child link="yumi_robl_base_link"/>
    <!-- Origin -->
    <origin rpy="-0.9790776874284967 0.5692108630372542 -0.82541439274" xyz="0.047607 0.070008 0.411486"/>
  </joint>
  <joint name="yumi_robl_joint_1" type="revolute">
    <!-- Parent and child -->
    <parent link="yumi_robl_base_link"/>
    <child link="yumi_robl_link_1"/>
    <!-- Origin -->
    <origin rpy="0 0.0 0.0" xyz="0 0 0"/>
    <axis xyz="0 0 1"/>
    <limit effort="0.0" lower="-2.9408797896104453" upper="2.9408797896104453" velocity="3.141592653589793"/>
    <dynamics damping="0.0" friction="0.0"/>
  </joint>
  <joint name="yumi_robl_joint_2" type="revolute">
    <!-- Parent and child -->
    <parent link="yumi_robl_link_1"/>
    <child link="yumi_robl_link_2"/>
    <!-- Origin -->
    <origin rpy="0.0 0.0 0.0" xyz="-0.03 0.0 0.1075"/>
    <axis xyz="0 1 0"/>
    <limit effort="0.0" lower="-2.504547476611863" upper="0.7592182246175333" velocity="3.141592653589793"/>
    <dynamics damping="0.0" friction="0.0"/>
  </joint>
  <joint name="yumi_robl_joint_3" type="revolute">
    <!-- Parent and child -->
    <parent link="yumi_robl_link_2"/>
    <child link="yumi_robl_link_3"/>
    <!-- Origin -->
    <origin rpy="0.0 0.0 0.0" xyz="0.03 0 0.1603"/>
    <axis xyz="0 0 1"/>
    <limit effort="0.0" lower="-2.9408797896104453" upper="2.9408797896104453" velocity="3.141592653589793"/>
    <dynamics damping="0.0" friction="0.0"/>
  </joint>
  <joint name="yumi_robl_joint_4" type="revolute">
    <!-- Parent and child -->
    <parent link="yumi_robl_link_3"/>
    <child link="yumi_robl_link_4"/>
    <!-- Origin -->
    <origin rpy="0.0 0.0 0.0" xyz="0.0405 0 0.0912"/>
    <axis xyz="0 1 0"/>
    <limit effort="0.0" lower="-2.155481626212997" upper="1.3962634015954636" velocity="3.141592653589793"/>
    <dynamics damping="0.0" friction="0.0"/>
  </joint>
  <joint name="yumi_robl_joint_5" type="revolute">
    <!-- Parent and child -->
    <parent link="yumi_robl_link_4"/>
    <child link="yumi_robl_link_5"/>
    <!-- Origin -->
    <origin rpy="0.0 0.0 0.0" xyz="0.1396 0 0.0405"/>
    <axis xyz="1 0 0"/>
    <limit effort="0.0" lower="-5.061454830783556" upper="5.061454830783556" velocity="6.981317007977318"/>
    <dynamics damping="0.0" friction="0.0"/>
  </joint>
  <joint name="yumi_robl_joint_6" type="revolute">
    <!-- Parent and child -->
    <parent link="yumi_robl_link_5"/>
    <child link="yumi_robl_link_6"/>
    <!-- Origin -->
    <origin rpy="0.0 0.0 0.0" xyz="0.1254 0 -0.027"/>
    <axis xyz="0 1 0"/>
    <limit effort="0.0" lower="-1.53588974175501" upper="2.4085543677521746" velocity="6.981317007977318"/>
    <dynamics damping="0.0" friction="0.0"/>
  </joint>
  <joint name="yumi_robl_joint_7" type="revolute">
    <!-- Parent and child -->
    <parent link="yumi_robl_link_6"/>
    <child link="yumi_robl_link_7"/>
    <!-- Origin -->
    <origin rpy="0.0 0.0 0.0" xyz="0.036 0 0.027"/>
    <axis xyz="1 0 0"/>
    <limit effort="0.0" lower="-3.9968039870670147" upper="3.9968039870670147" velocity="6.981317007977318"/>
    <dynamics damping="0.0" friction="0.0"/>
  </joint>
  <joint name="yumi_robl_joint_7_flange" type="fixed">
    <!-- Parent and ch2.316171656696717 -0.5692108630372542 0.9790776874284967ild -->
    <parent link="yumi_robl_link_7"/>
    <child link="yumi_robl_flange"/>
    <!-- Origin -->
    <origin rpy="0 0 0" xyz="0 0 0"/>
  </joint>
  <joint name="yumi_robl_flange_tool0" type="fixed">
    <!-- Parent and child -->
    <parent link="yumi_robl_flange"/>
    <child link="yumi_robl_tool0"/>
    <!-- Origin -->
    <origin rpy="0.0 1.5707963267948966 0.0" xyz="0.0 0.0 0.0"/>
  </joint>
  <joint name="yumi_robr_base_joint" type="fixed">
    <!-- Parent and child -->
    <parent link="yumi_base_link"/>
    <child link="yumi_robr_base_link"/>
    <!-- Origin -->
    <origin rpy="0.9790776874284967 0.5692108630372542 0.82541439274" xyz="0.047607 -0.070008 0.411486"/>
  </joint>
  <joint name="yumi_robr_joint_1" type="revolute">
    <!-- Parent and child -->
    <parent link="yumi_robr_base_link"/>
    <child link="yumi_robr_link_1"/>
    <!-- Origin -->
    <origin rpy="0.0 0.0 0.0" xyz="0 0 0"/>
    <axis xyz="0 0 1"/>
    <limit effort="0.0" lower="-2.9408797896104453" upper="2.9408797896104453" velocity="3.141592653589793"/>
    <dynamics damping="0.0" friction="0.0"/>
  </joint>
  <joint name="yumi_robr_joint_2" type="revolute">
    <!-- Parent and child -->
    <parent link="yumi_robr_link_1"/>
    <child link="yumi_robr_link_2"/>
    <!-- Origin -->
    <origin rpy="0.0 0.0 0.0" xyz="-0.03 0.0 0.1075"/>
    <axis xyz="0 1 0"/>
    <limit effort="0.0" lower="-2.504547476611863" upper="0.7592182246175333" velocity="3.141592653589793"/>
    <dynamics damping="0.0" friction="0.0"/>
  </joint>

  <joint name="yumi_robr_joint_3" type="revolute">
    <!-- Parent and child -->
    <parent link="yumi_robr_link_2"/>
    <child link="yumi_robr_link_3"/>
    <!-- Origin -->
    <origin rpy="0.0 0.0 0.0" xyz="0.03 0 0.1603"/>
    <axis xyz="0 0 1"/>
    <limit effort="0.0" lower="-2.9408797896104453" upper="2.9408797896104453" velocity="3.141592653589793"/>
    <dynamics damping="0.0" friction="0.0"/>
  </joint>

  <joint name="yumi_robr_joint_4" type="revolute">
    <!-- Parent and child -->
    <parent link="yumi_robr_link_3"/>
    <child link="yumi_robr_link_4"/>
    <!-- Origin -->
    <origin rpy="0.0 0.0 0.0" xyz="0.0405 0 0.0912"/>
    <axis xyz="0 1 0"/>
    <limit effort="0.0" lower="-2.155481626212997" upper="1.3962634015954636" velocity="3.141592653589793"/>
    <dynamics damping="0.0" friction="0.0"/>
  </joint>

  <joint name="yumi_robr_joint_5" type="revolute">
    <!-- Parent and child -->
    <parent link="yumi_robr_link_4"/>
    <child link="yumi_robr_link_5"/>
    <!-- Origin -->
    <origin rpy="0.0 0.0 0.0" xyz="0.1396 0 0.0405"/>
    <axis xyz="1 0 0"/>
    <limit effort="0.0" lower="-5.061454830783556" upper="5.061454830783556" velocity="6.981317007977318"/>
    <dynamics damping="0.0" friction="0.0"/>
  </joint>
  <joint name="yumi_robr_joint_6" type="revolute">
    <!-- Parent and child -->
    <parent link="yumi_robr_link_5"/>
    <child link="yumi_robr_link_6"/>
    <!-- Origin -->
    <origin rpy="0.0 0.0 0.0" xyz="0.1254 0 -0.027"/>
    <axis xyz="0 1 0"/>
    <limit effort="0.0" lower="-1.53588974175501" upper="2.4085543677521746" velocity="6.981317007977318"/>
    <dynamics damping="0.0" friction="0.0"/>
  </joint>
  <joint name="yumi_robr_joint_7" type="revolute">
    <!-- Parent and child -->
    <parent link="yumi_robr_link_6"/>
    <child link="yumi_robr_link_7"/>
    <!-- Origin -->
    <origin rpy="0.0 0.0 0.0" xyz="0.036 0 0.027"/>
    <axis xyz="1 0 0"/>
    <limit effort="0.0" lower="-3.9968039870670147" upper="3.9968039870670147" velocity="6.981317007977318"/>
    <dynamics damping="0.0" friction="0.0"/>
  </joint>
  <joint name="yumi_robr_joint_7_flange" type="fixed">
    <!-- Parent and child -->
    <parent link="yumi_robr_link_7"/>
    <child link="yumi_robr_flange"/>
    <!-- Origin -->
    <origin rpy="0 0 0" xyz="0 0 0"/>
  </joint>
  <joint name="yumi_robr_flange_tool0" type="fixed">
    <!-- Parent and child -->
    <parent link="yumi_robr_flange"/>
    <child link="yumi_robr_tool0"/>
    <!-- Origin -->
    <origin rpy="0.0 1.5707963267948966 0.0" xyz="0.0 0.0 0.0"/>
  </joint>
  <transmission name="yumi_robl_transmission_1">
    <type>transmission_interface/SimpleTransmission</type>
    <joint name="yumi_robl_joint_1">
      <hardwareInterface>hardware_interface/PositionJointInterface</hardwareInterface>
    </joint>
    <actuator name="yumi_robl_joint_1_motor">
      <mechanicalReduction>1.0</mechanicalReduction>
    </actuator>
  </transmission>
  <transmission name="yumi_robl_transmission_2">
    <type>transmission_interface/SimpleTransmission</type>
    <joint name="yumi_robl_joint_2">
      <hardwareInterface>hardware_interface/PositionJointInterface</hardwareInterface>
    </joint>
    <actuator name="yumi_robl_joint_2_motor">
      <mechanicalReduction>1.0</mechanicalReduction>
    </actuator>
  </transmission>
  <transmission name="yumi_robl_transmission_3">
    <type>transmission_interface/SimpleTransmission</type>
    <joint name="yumi_robl_joint_3">
      <hardwareInterface>hardware_interface/PositionJointInterface</hardwareInterface>
    </joint>
    <actuator name="yumi_robl_joint_3_motor">
      <mechanicalReduction>1.0</mechanicalReduction>
    </actuator>
  </transmission>
  <transmission name="yumi_robl_transmission_4">
    <type>transmission_interface/SimpleTransmission</type>
    <joint name="yumi_robl_joint_4">
      <hardwareInterface>hardware_interface/PositionJointInterface</hardwareInterface>
    </joint>
    <actuator name="yumi_robl_joint_4_motor">
      <mechanicalReduction>1.0</mechanicalReduction>
    </actuator>
  </transmission>
  <transmission name="yumi_robl_transmission_5">
    <type>transmission_interface/SimpleTransmission</type>
    <joint name="yumi_robl_joint_5">
      <hardwareInterface>hardware_interface/PositionJointInterface</hardwareInterface>
    </joint>
    <actuator name="yumi_robl_joint_5_motor">
      <mechanicalReduction>1.0</mechanicalReduction>
    </actuator>
  </transmission>
  <transmission name="yumi_robl_transmission_6">
    <type>transmission_interface/SimpleTransmission</type>
    <joint name="yumi_robl_joint_6">
      <hardwareInterface>hardware_interface/PositionJointInterface</hardwareInterface>
    </joint>
    <actuator name="yumi_robl_joint_6_motor">
      <mechanicalReduction>1.0</mechanicalReduction>
    </actuator>
  </transmission>
  <transmission name="yumi_robl_transmission_7">
    <type>transmission_interface/SimpleTransmission</type>
    <joint name="yumi_robl_joint_7">
      <hardwareInterface>hardware_interface/PositionJointInterface</hardwareInterface>
    </joint>
    <actuator name="yumi_robl_joint_7_motor">
      <mechanicalReduction>1.0</mechanicalReduction>
    </actuator>
  </transmission>
  <transmission name="yumi_robr_transmission_1">
    <type>transmission_interface/SimpleTransmission</type>
    <joint name="yumi_robr_joint_1">
      <hardwareInterface>hardware_interface/PositionJointInterface</hardwareInterface>
    </joint>
    <actuator name="yumi_robr_joint_1_motor">
      <mechanicalReduction>1.0</mechanicalReduction>
    </actuator>
  </transmission>
  <transmission name="yumi_robr_transmission_2">
    <type>transmission_interface/SimpleTransmission</type>
    <joint name="yumi_robr_joint_2">
      <hardwareInterface>hardware_interface/PositionJointInterface</hardwareInterface>
    </joint>
    <actuator name="yumi_robr_joint_2_motor">
      <mechanicalReduction>1.0</mechanicalReduction>
    </actuator>
  </transmission>
  <transmission name="yumi_robr_transmission_3">
    <type>transmission_interface/SimpleTransmission</type>
    <joint name="yumi_robr_joint_3">
      <hardwareInterface>hardware_interface/PositionJointInterface</hardwareInterface>
    </joint>
    <actuator name="yumi_robr_joint_3_motor">
      <mechanicalReduction>1.0</mechanicalReduction>
    </actuator>
  </transmission>
  <transmission name="yumi_robr_transmission_4">
    <type>transmission_interface/SimpleTransmission</type>
    <joint name="yumi_robr_joint_4">
      <hardwareInterface>hardware_interface/PositionJointInterface</hardwareInterface>
    </joint>
    <actuator name="yumi_robr_joint_4_motor">
      <mechanicalReduction>1.0</mechanicalReduction>
    </actuator>
  </transmission>
  <transmission name="yumi_robr_transmission_5">
    <type>transmission_interface/SimpleTransmission</type>
    <joint name="yumi_robr_joint_5">
      <hardwareInterface>hardware_interface/PositionJointInterface</hardwareInterface>
    </joint>
    <actuator name="yumi_robr_joint_5_motor">
      <mechanicalReduction>1.0</mechanicalReduction>
    </actuator>
  </transmission>
  <transmission name="yumi_robr_transmission_6">
    <type>transmission_interface/SimpleTransmission</type>
    <joint name="yumi_robr_joint_6">
      <hardwareInterface>hardware_interface/PositionJointInterface</hardwareInterface>
    </joint>
    <actuator name="yumi_robr_joint_6_motor">
      <mechanicalReduction>1.0</mechanicalReduction>
    </actuator>
  </transmission>
  <transmission name="yumi_robr_transmission_7">
    <type>transmission_interface/SimpleTransmission</type>
    <joint name="yumi_robr_joint_7">
      <hardwareInterface>hardware_interface/PositionJointInterface</hardwareInterface>
    </joint>
    <actuator name="yumi_robr_joint_7_motor">
      <mechanicalReduction>1.0</mechanicalReduction>
    </actuator>
  </transmission>
  <gazebo reference="yumi_base_link">
    <material>Gazebo/White</material>
  </gazebo>
  <gazebo reference="yumi_robl_link_1">
    <turnGravityOff>True</turnGravityOff>
  </gazebo>
  <gazebo reference="yumi_robl_link_2">
    <turnGravityOff>True</turnGravityOff>
  </gazebo>
  <gazebo reference="yumi_robl_link_3">
    <turnGravityOff>True</turnGravityOff>
  </gazebo>
  <gazebo reference="yumi_robl_link_4">
    <turnGravityOff>True</turnGravityOff>
  </gazebo>
  <gazebo reference="yumi_robl_link_5">
    <turnGravityOff>True</turnGravityOff>
  </gazebo>
  <gazebo reference="yumi_robl_link_6">
    <turnGravityOff>True</turnGravityOff>
  </gazebo>
  <gazebo reference="yumi_robl_link_7">
    <turnGravityOff>True</turnGravityOff>
  </gazebo>
  <gazebo reference="yumi_robr_link_1">
    <turnGravityOff>True</turnGravityOff>
  </gazebo>
  <gazebo reference="yumi_robr_link_2">
    <turnGravityOff>True</turnGravityOff>
  </gazebo>
  <gazebo reference="yumi_robr_link_3">
    <turnGravityOff>True</turnGravityOff>
  </gazebo>
  <gazebo reference="yumi_robr_link_4">
    <turnGravityOff>True</turnGravityOff>
  </gazebo>
  <gazebo reference="yumi_robr_link_5">
    <turnGravityOff>True</turnGravityOff>
  </gazebo>
  <gazebo reference="yumi_robr_link_6">
    <turnGravityOff>True</turnGravityOff>
  </gazebo>
  <gazebo reference="yumi_robr_link_7">
    <turnGravityOff>True</turnGravityOff>
  </gazebo>
  <joint name="pillar_yumi_joint" type="fixed">
    <!-- Parent and child -->
    <parent link="pillar_top_link"/>
    <child link="yumi_base_link"/>
    <!-- Origin -->
    <origin rpy="0.0 0.0 0.0" xyz="0.234995 0.0 -0.108"/>
  </joint>
  <!-- ============================================== Include Macros =============================================== -->
  <!-- ================================================ Main Macros ================================================ -->
  <!-- ============================================== Support Macros =============================================== -->
  <!-- ================================================ Main Macros ================================================ -->
  <!-- ============================================== Support Macros =============================================== -->
  <!-- ================================================ Main Macros ================================================ -->
  <!-- ================================================ Main Macros ================================================ -->
  <!-- ============================================== Support Macros =============================================== -->
  <!-- ================================================ Main Macros ================================================ -->
  <!-- ================================================ Main Macros ================================================ -->
  <!-- ================================================ Main Macros ================================================ -->
  <!-- ============================================== Support Macros =============================================== -->
  <link name="yumi_robl_sg_base_link">
    <visual>
      <!-- Origin -->
      <origin rpy="0.0 0.0 0.0" xyz="0.0 0.0 0.0"/>
      <geometry>
        <mesh filename="package://abb_mp_smart_gripper_description/meshes/sg/visual/base_link.dae"/>
      </geometry>
      <material name="light_grey">
        <color rgba="0.6 0.6 0.6 1.0"/>
      </material>
    </visual>
    <collision>
      <!-- Origin -->
      <origin rpy="0.0 0.0 0.0" xyz="0.0 0.0 0.0"/>
      <geometry>
        <mesh filename="package://abb_mp_smart_gripper_description/meshes/sg/collision/base_link.stl"/>
      </geometry>
    </collision>
    <inertial>
      <!-- Origin -->
      <origin rpy="0.0 0.0 0.0" xyz="0.0 0.0 0.0"/>
      <!-- Mass -->
      <mass value="1e-05"/>
      <inertia ixx="1e-06" ixy="0.0" ixz="0.0" iyy="1e-06" iyz="0.0" izz="1e-06"/>
    </inertial>
  </link>
  <link name="yumi_robl_sg_servo_frame_link">
    <inertial>
      <!-- Mass -->
      <mass value="1.0e-5"/>
      <!-- Inertia -->
      <inertia ixx="1.0e-6" ixy="0.0" ixz="0.0" iyy="1.0e-6" iyz="0.0" izz="1.0e-6"/>
    </inertial>
  </link>
  <link name="yumi_robl_sg_fingers_frame_link">
    <inertial>
      <!-- Mass -->
      <mass value="1.0e-5"/>
      <!-- Inertia -->
      <inertia ixx="1.0e-6" ixy="0.0" ixz="0.0" iyy="1.0e-6" iyz="0.0" izz="1.0e-6"/>
    </inertial>
  </link>
  <link name="yumi_robl_sg_vacuum_1_frame_link">
    <inertial>
      <!-- Mass -->
      <mass value="1.0e-5"/>
      <!-- Inertia -->
      <inertia ixx="1.0e-6" ixy="0.0" ixz="0.0" iyy="1.0e-6" iyz="0.0" izz="1.0e-6"/>
    </inertial>
  </link>
  <link name="yumi_robl_sg_vacuum_2_frame_link">
    <inertial>
      <!-- Mass -->
      <mass value="1.0e-5"/>
      <!-- Inertia -->
      <inertia ixx="1.0e-6" ixy="0.0" ixz="0.0" iyy="1.0e-6" iyz="0.0" izz="1.0e-6"/>
    </inertial>
  </link>
  <link name="yumi_robl_sg_camera_frame_link">
    <inertial>
      <!-- Mass -->
      <mass value="1.0e-5"/>
      <!-- Inertia -->
      <inertia ixx="1.0e-6" ixy="0.0" ixz="0.0" iyy="1.0e-6" iyz="0.0" izz="1.0e-6"/>
    </inertial>
  </link>
  <link name="yumi_robl_sg_finger_1_base_link">
    <visual>
      <!-- Origin -->
      <origin rpy="0.0 0.0 0.0" xyz="0.0 0.0 0.0"/>
      <geometry>
        <mesh filename="package://abb_mp_smart_gripper_description/meshes/sg/visual/finger_1_base_link.dae"/>
      </geometry>
      <material name="light_grey">
        <color rgba="0.6 0.6 0.6 1.0"/>
      </material>
    </visual>
    <collision>
      <!-- Origin -->
      <origin rpy="0.0 0.0 0.0" xyz="0.0 0.0 0.0"/>
      <geometry>
        <mesh filename="package://abb_mp_smart_gripper_description/meshes/sg/collision/finger_1_base_link.stl"/>
      </geometry>
    </collision>
    <inertial>
      <!-- Origin -->
      <origin rpy="0.0 0.0 0.0" xyz="0.0 0.0 0.0"/>
      <!-- Mass -->
      <mass value="1e-05"/>
      <inertia ixx="1e-06" ixy="0.0" ixz="0.0" iyy="1e-06" iyz="0.0" izz="1e-06"/>
    </inertial>
  </link>
  <link name="yumi_robl_sg_finger_2_base_link">
    <visual>
      <!-- Origin -->
      <origin rpy="0.0 0.0 0.0" xyz="0.0 0.0 0.0"/>
      <geometry>
        <mesh filename="package://abb_mp_smart_gripper_description/meshes/sg/visual/finger_2_base_link.dae"/>
      </geometry>
      <material name="light_grey">
        <color rgba="0.6 0.6 0.6 1.0"/>
      </material>
    </visual>
    <collision>
      <!-- Origin -->
      <origin rpy="0.0 0.0 0.0" xyz="0.0 0.0 0.0"/>
      <geometry>
        <mesh filename="package://abb_mp_smart_gripper_description/meshes/sg/collision/finger_2_base_link.stl"/>
      </geometry>
    </collision>
    <inertial>
      <!-- Origin -->
      <origin rpy="0.0 0.0 0.0" xyz="0.0 0.0 0.0"/>
      <!-- Mass -->
      <mass value="1e-05"/>
      <inertia ixx="1e-06" ixy="0.0" ixz="0.0" iyy="1e-06" iyz="0.0" izz="1e-06"/>
    </inertial>
  </link>
  <link name="yumi_robl_sg_finger_1_link">
    <visual>
      <!-- Origin -->
      <origin rpy="0.0 0.0 0.0" xyz="0.0125 -0.0065 -0.0837"/>
      <geometry>
        <mesh filename="package://abb_mp_smart_gripper_description/meshes/sg/visual/finger_1_link.dae"/>
      </geometry>
      <material name="light_grey">
        <color rgba="0.6 0.6 0.6 1.0"/>
      </material>
    </visual>
    <collision>
      <!-- Origin -->
      <origin rpy="0.0 0.0 0.0" xyz="0.0125 -0.0065 -0.0837"/>
      <geometry>
        <mesh filename="package://abb_mp_smart_gripper_description/meshes/sg/collision/finger_1_link.stl"/>
      </geometry>
    </collision>
    <inertial>
      <!-- Origin -->
      <origin rpy="0.0 0.0 0.0" xyz="0.0 0.0 0.0"/>
      <!-- Mass -->
      <mass value="1e-05"/>
      <inertia ixx="1e-06" ixy="0.0" ixz="0.0" iyy="1e-06" iyz="0.0" izz="1e-06"/>
    </inertial>
  </link>
  <link name="yumi_robl_sg_finger_2_link">
    <visual>
      <!-- Origin -->
      <origin rpy="0.0 0.0 0.0" xyz="-0.0125 0.0065 -0.0837"/>
      <geometry>
        <mesh filename="package://abb_mp_smart_gripper_description/meshes/sg/visual/finger_2_link.dae"/>
      </geometry>
      <material name="light_grey">
        <color rgba="0.6 0.6 0.6 1.0"/>
      </material>
    </visual>
    <collision>
      <!-- Origin -->
      <origin rpy="0.0 0.0 0.0" xyz="-0.0125 0.0065 -0.0837"/>
      <geometry>
        <mesh filename="package://abb_mp_smart_gripper_description/meshes/sg/collision/finger_2_link.stl"/>
      </geometry>
    </collision>
    <inertial>
      <!-- Origin -->
      <origin rpy="0.0 0.0 0.0" xyz="0.0 0.0 0.0"/>
      <!-- Mass -->
      <mass value="1e-05"/>
      <inertia ixx="1e-06" ixy="0.0" ixz="0.0" iyy="1e-06" iyz="0.0" izz="1e-06"/>
    </inertial>
  </link>
  <joint name="yumi_robl_sg_servo_frame_joint" type="fixed">
    <!-- Parent and child -->
    <parent link="yumi_robl_sg_base_link"/>
    <child link="yumi_robl_sg_servo_frame_link"/>
    <!-- Origin -->
    <origin rpy="0.0 0.0 0.0" xyz="0.0 0.0 0.084"/>
  </joint>
  <joint name="yumi_robl_sg_fingers_frame_joint" type="fixed">
    <!-- Parent and child -->
    <parent link="yumi_robl_sg_base_link"/>
    <child link="yumi_robl_sg_fingers_frame_link"/>
    <!-- Origin -->
    <origin rpy="0.0 0.0 0.0" xyz="0.0 0.0 0.1142"/>
  </joint>
  <joint name="yumi_robl_sg_vacuum_1_frame_joint" type="fixed">
    <!-- Parent and child -->
    <parent link="yumi_robl_sg_base_link"/>
    <child link="yumi_robl_sg_vacuum_1_frame_link"/>
    <!-- Origin -->
    <origin rpy="0.0 1.5707963267948966 0.0" xyz="0.0274 0.0185 0.0375"/>
  </joint>
  <joint name="yumi_robl_sg_vacuum_2_frame_joint" type="fixed">
    <!-- Parent and child -->
    <parent link="yumi_robl_sg_base_link"/>
    <child link="yumi_robl_sg_vacuum_2_frame_link"/>
    <!-- Origin -->
    <origin rpy="-3.141592653589793 1.5707963267948966 0.0" xyz="-0.0274 0.0185 0.0375"/>
  </joint>
  <joint name="yumi_robl_sg_camera_frame_joint" type="fixed">
    <!-- Parent and child -->
    <parent link="yumi_robl_sg_base_link"/>
    <child link="yumi_robl_sg_camera_frame_link"/>
    <!-- Origin -->
    <origin rpy="-1.5707963267948966 1.5707963267948966 0.0" xyz="-0.0073 0.0283 0.0351"/>
  </joint>
  <joint name="yumi_robl_sg_finger_1_base_joint" type="fixed">
    <!-- Parent and child -->
    <parent link="yumi_robl_sg_base_link"/>
    <child link="yumi_robl_sg_finger_1_base_link"/>
    <!-- Origin -->
    <origin rpy="0.0 0.0 0.0" xyz="-0.0125 0.0065 0.084"/>
    <axis xyz="1.0 0.0 0.0"/>
  </joint>
  <joint name="yumi_robl_sg_finger_2_base_joint" type="fixed">
    <!-- Parent and child -->
    <parent link="yumi_robl_sg_base_link"/>
    <child link="yumi_robl_sg_finger_2_base_link"/>
    <!-- Origin -->
    <origin rpy="0.0 0.0 0.0" xyz="0.0125 -0.0065 0.084"/>
    <axis xyz="1.0 0.0 0.0"/>
    <mimic joint="yumi_robl_sg_finger_1_base_joint" multiplier="-1.0" offset="0.0"/>
  </joint>
  <joint name="yumi_robl_sg_finger_1_joint" type="fixed">
    <!-- Parent and child -->
    <parent link="yumi_robl_sg_finger_1_base_link"/>
    <child link="yumi_robl_sg_finger_1_link"/>
    <!-- Origin -->
    <origin rpy="0.0 0.0 0.0" xyz="0.0 0.0 0.0"/>
  </joint>
  <joint name="yumi_robl_sg_finger_2_joint" type="fixed">
    <!-- Parent and child -->
    <parent link="yumi_robl_sg_finger_2_base_link"/>
    <child link="yumi_robl_sg_finger_2_link"/>
    <!-- Origin -->
    <origin rpy="0.0 0.0 0.0" xyz="0.0 0.0 0.0"/>
  </joint>
  <gazebo reference="yumi_robl_sg_base_link">
    <material>Gazebo/White</material>
    <turnGravityOff>True</turnGravityOff>
  </gazebo>
  <gazebo reference="yumi_robl_sg_finger_1_base_link">
    <material>Gazebo/White</material>
    <turnGravityOff>True</turnGravityOff>
  </gazebo>
  <gazebo reference="yumi_robl_sg_finger_2_base_link">
    <material>Gazebo/White</material>
    <turnGravityOff>True</turnGravityOff>
  </gazebo>
  <gazebo reference="yumi_robl_sg_finger_1_link">
    <material>Gazebo/Grey</material>
    <turnGravityOff>True</turnGravityOff>
  </gazebo>
  <gazebo reference="yumi_robl_sg_finger_2_link">
    <material>Gazebo/Grey</material>
    <turnGravityOff>True</turnGravityOff>
  </gazebo>
  <!-- ============================================== Include Macros =============================================== -->
  <!-- ================================================ Main Macros ================================================ -->
  <!-- ============================================== Support Macros =============================================== -->
  <!-- ================================================ Main Macros ================================================ -->
  <!-- ============================================== Support Macros =============================================== -->
  <!-- ================================================ Main Macros ================================================ -->
  <!-- ================================================ Main Macros ================================================ -->
  <!-- ============================================== Support Macros =============================================== -->
  <!-- ================================================ Main Macros ================================================ -->
  <!-- ================================================ Main Macros ================================================ -->
  <!-- ================================================ Main Macros ================================================ -->
  <!-- ============================================== Support Macros =============================================== -->
  <link name="yumi_robr_sg_base_link">
    <visual>
      <!-- Origin -->
      <origin rpy="0.0 0.0 0.0" xyz="0.0 0.0 0.0"/>
      <geometry>
        <mesh filename="package://abb_mp_smart_gripper_description/meshes/sg/visual/base_link.dae"/>
      </geometry>
      <material name="light_grey">
        <color rgba="0.6 0.6 0.6 1.0"/>
      </material>
    </visual>
    <collision>
      <!-- Origin -->
      <origin rpy="0.0 0.0 0.0" xyz="0.0 0.0 0.0"/>
      <geometry>
        <mesh filename="package://abb_mp_smart_gripper_description/meshes/sg/collision/base_link.stl"/>
      </geometry>
    </collision>
    <inertial>
      <!-- Origin -->
      <origin rpy="0.0 0.0 0.0" xyz="0.0 0.0 0.0"/>
      <!-- Mass -->
      <mass value="1e-05"/>
      <inertia ixx="1e-06" ixy="0.0" ixz="0.0" iyy="1e-06" iyz="0.0" izz="1e-06"/>
    </inertial>
  </link>
  <link name="yumi_robr_sg_servo_frame_link">
    <inertial>
      <!-- Mass -->
      <mass value="1.0e-5"/>
      <!-- Inertia -->
      <inertia ixx="1.0e-6" ixy="0.0" ixz="0.0" iyy="1.0e-6" iyz="0.0" izz="1.0e-6"/>
    </inertial>
  </link>
  <link name="yumi_robr_sg_fingers_frame_link">
    <inertial>
      <!-- Mass -->
      <mass value="1.0e-5"/>
      <!-- Inertia -->
      <inertia ixx="1.0e-6" ixy="0.0" ixz="0.0" iyy="1.0e-6" iyz="0.0" izz="1.0e-6"/>
    </inertial>
  </link>
  <link name="yumi_robr_sg_vacuum_1_frame_link">
    <inertial>
      <!-- Mass -->
      <mass value="1.0e-5"/>
      <!-- Inertia -->
      <inertia ixx="1.0e-6" ixy="0.0" ixz="0.0" iyy="1.0e-6" iyz="0.0" izz="1.0e-6"/>
    </inertial>
  </link>
  <link name="yumi_robr_sg_vacuum_2_frame_link">
    <inertial>
      <!-- Mass -->
      <mass value="1.0e-5"/>
      <!-- Inertia -->
      <inertia ixx="1.0e-6" ixy="0.0" ixz="0.0" iyy="1.0e-6" iyz="0.0" izz="1.0e-6"/>
    </inertial>
  </link>
  <link name="yumi_robr_sg_camera_frame_link">
    <inertial>
      <!-- Mass -->
      <mass value="1.0e-5"/>
      <!-- Inertia -->
      <inertia ixx="1.0e-6" ixy="0.0" ixz="0.0" iyy="1.0e-6" iyz="0.0" izz="1.0e-6"/>
    </inertial>
  </link>
  <link name="yumi_robr_sg_finger_1_base_link">
    <visual>
      <!-- Origin -->
      <origin rpy="0.0 0.0 0.0" xyz="0.0 0.0 0.0"/>
      <geometry>
        <mesh filename="package://abb_mp_smart_gripper_description/meshes/sg/visual/finger_1_base_link.dae"/>
      </geometry>
      <material name="light_grey">
        <color rgba="0.6 0.6 0.6 1.0"/>
      </material>
    </visual>
    <collision>
      <!-- Origin -->
      <origin rpy="0.0 0.0 0.0" xyz="0.0 0.0 0.0"/>
      <geometry>
        <mesh filename="package://abb_mp_smart_gripper_description/meshes/sg/collision/finger_1_base_link.stl"/>
      </geometry>
    </collision>
    <inertial>
      <!-- Origin -->
      <origin rpy="0.0 0.0 0.0" xyz="0.0 0.0 0.0"/>
      <!-- Mass -->
      <mass value="1e-05"/>
      <inertia ixx="1e-06" ixy="0.0" ixz="0.0" iyy="1e-06" iyz="0.0" izz="1e-06"/>
    </inertial>
  </link>
  <link name="yumi_robr_sg_finger_2_base_link">
    <visual>
      <!-- Origin -->
      <origin rpy="0.0 0.0 0.0" xyz="0.0 0.0 0.0"/>
      <geometry>
        <mesh filename="package://abb_mp_smart_gripper_description/meshes/sg/visual/finger_2_base_link.dae"/>
      </geometry>
      <material name="light_grey">
        <color rgba="0.6 0.6 0.6 1.0"/>
      </material>
    </visual>
    <collision>
      <!-- Origin -->
      <origin rpy="0.0 0.0 0.0" xyz="0.0 0.0 0.0"/>
      <geometry>
        <mesh filename="package://abb_mp_smart_gripper_description/meshes/sg/collision/finger_2_base_link.stl"/>
      </geometry>
    </collision>
    <inertial>
      <!-- Origin -->
      <origin rpy="0.0 0.0 0.0" xyz="0.0 0.0 0.0"/>
      <!-- Mass -->
      <mass value="1e-05"/>
      <inertia ixx="1e-06" ixy="0.0" ixz="0.0" iyy="1e-06" iyz="0.0" izz="1e-06"/>
    </inertial>
  </link>
  <link name="yumi_robr_sg_finger_1_link">
    <visual>
      <!-- Origin -->
      <origin rpy="0.0 0.0 0.0" xyz="0.0125 -0.0065 -0.0837"/>
      <geometry>
        <mesh filename="package://abb_mp_smart_gripper_description/meshes/sg/visual/finger_1_link.dae"/>
      </geometry>
      <material name="light_grey">
        <color rgba="0.6 0.6 0.6 1.0"/>
      </material>
    </visual>
    <collision>
      <!-- Origin -->
      <origin rpy="0.0 0.0 0.0" xyz="0.0125 -0.0065 -0.0837"/>
      <geometry>
        <mesh filename="package://abb_mp_smart_gripper_description/meshes/sg/collision/finger_1_link.stl"/>
      </geometry>
    </collision>
    <inertial>
      <!-- Origin -->
      <origin rpy="0.0 0.0 0.0" xyz="0.0 0.0 0.0"/>
      <!-- Mass -->
      <mass value="1e-05"/>
      <inertia ixx="1e-06" ixy="0.0" ixz="0.0" iyy="1e-06" iyz="0.0" izz="1e-06"/>
    </inertial>
  </link>
  <link name="yumi_robr_sg_finger_2_link">
    <visual>
      <!-- Origin -->
      <origin rpy="0.0 0.0 0.0" xyz="-0.0125 0.0065 -0.0837"/>
      <geometry>
        <mesh filename="package://abb_mp_smart_gripper_description/meshes/sg/visual/finger_2_link.dae"/>
      </geometry>
      <material name="light_grey">
        <color rgba="0.6 0.6 0.6 1.0"/>
      </material>
    </visual>
    <collision>
      <!-- Origin -->
      <origin rpy="0.0 0.0 0.0" xyz="-0.0125 0.0065 -0.0837"/>
      <geometry>
        <mesh filename="package://abb_mp_smart_gripper_description/meshes/sg/collision/finger_2_link.stl"/>
      </geometry>
    </collision>
    <inertial>
      <!-- Origin -->
      <origin rpy="0.0 0.0 0.0" xyz="0.0 0.0 0.0"/>
      <!-- Mass -->
      <mass value="1e-05"/>
      <inertia ixx="1e-06" ixy="0.0" ixz="0.0" iyy="1e-06" iyz="0.0" izz="1e-06"/>
    </inertial>
  </link>
  <joint name="yumi_robr_sg_servo_frame_joint" type="fixed">
    <!-- Parent and child -->
    <parent link="yumi_robr_sg_base_link"/>
    <child link="yumi_robr_sg_servo_frame_link"/>
    <!-- Origin -->
    <origin rpy="0.0 0.0 0.0" xyz="0.0 0.0 0.084"/>
  </joint>
  <joint name="yumi_robr_sg_fingers_frame_joint" type="fixed">
    <!-- Parent and child -->
    <parent link="yumi_robr_sg_base_link"/>
    <child link="yumi_robr_sg_fingers_frame_link"/>
    <!-- Origin -->
    <origin rpy="0.0 0.0 0.0" xyz="0.0 0.0 0.1142"/>
  </joint>
  <joint name="yumi_robr_sg_vacuum_1_frame_joint" type="fixed">
    <!-- Parent and child -->
    <parent link="yumi_robr_sg_base_link"/>
    <child link="yumi_robr_sg_vacuum_1_frame_link"/>
    <!-- Origin -->
    <origin rpy="0.0 1.5707963267948966 0.0" xyz="0.0274 0.0185 0.0375"/>
  </joint>
  <joint name="yumi_robr_sg_vacuum_2_frame_joint" type="fixed">
    <!-- Parent and child -->
    <parent link="yumi_robr_sg_base_link"/>
    <child link="yumi_robr_sg_vacuum_2_frame_link"/>
    <!-- Origin -->
    <origin rpy="-3.141592653589793 1.5707963267948966 0.0" xyz="-0.0274 0.0185 0.0375"/>
  </joint>
  <joint name="yumi_robr_sg_camera_frame_joint" type="fixed">
    <!-- Parent and child -->
    <parent link="yumi_robr_sg_base_link"/>
    <child link="yumi_robr_sg_camera_frame_link"/>
    <!-- Origin -->
    <origin rpy="-1.5707963267948966 1.5707963267948966 0.0" xyz="-0.0073 0.0283 0.0351"/>
  </joint>
  <joint name="yumi_robr_sg_finger_1_base_joint" type="fixed">
    <!-- Parent and child -->
    <parent link="yumi_robr_sg_base_link"/>
    <child link="yumi_robr_sg_finger_1_base_link"/>
    <!-- Origin -->
    <origin rpy="0.0 0.0 0.0" xyz="-0.0125 0.0065 0.084"/>
    <axis xyz="1.0 0.0 0.0"/>
  </joint>
  <joint name="yumi_robr_sg_finger_2_base_joint" type="fixed">
    <!-- Parent and child -->
    <parent link="yumi_robr_sg_base_link"/>
    <child link="yumi_robr_sg_finger_2_base_link"/>
    <!-- Origin -->
    <origin rpy="0.0 0.0 0.0" xyz="0.0125 -0.0065 0.084"/>
    <axis xyz="1.0 0.0 0.0"/>
    <mimic joint="yumi_robr_sg_finger_1_base_joint" multiplier="-1.0" offset="0.0"/>
  </joint>
  <joint name="yumi_robr_sg_finger_1_joint" type="fixed">
    <!-- Parent and child -->
    <parent link="yumi_robr_sg_finger_1_base_link"/>
    <child link="yumi_robr_sg_finger_1_link"/>
    <!-- Origin -->
    <origin rpy="0.0 0.0 0.0" xyz="0.0 0.0 0.0"/>
  </joint>
  <joint name="yumi_robr_sg_finger_2_joint" type="fixed">
    <!-- Parent and child -->
    <parent link="yumi_robr_sg_finger_2_base_link"/>
    <child link="yumi_robr_sg_finger_2_link"/>
    <!-- Origin -->
    <origin rpy="0.0 0.0 0.0" xyz="0.0 0.0 0.0"/>
  </joint>
  <gazebo reference="yumi_robr_sg_base_link">
    <material>Gazebo/White</material>
    <turnGravityOff>True</turnGravityOff>
  </gazebo>
  <gazebo reference="yumi_robr_sg_finger_1_base_link">
    <material>Gazebo/White</material>
    <turnGravityOff>True</turnGravityOff>
  </gazebo>
  <gazebo reference="yumi_robr_sg_finger_2_base_link">
    <material>Gazebo/White</material>
    <turnGravityOff>True</turnGravityOff>
  </gazebo>
  <gazebo reference="yumi_robr_sg_finger_1_link">
    <material>Gazebo/Grey</material>
    <turnGravityOff>True</turnGravityOff>
  </gazebo>
  <gazebo reference="yumi_robr_sg_finger_2_link">
    <material>Gazebo/Grey</material>
    <turnGravityOff>True</turnGravityOff>
  </gazebo>
  <joint name="yumi_robl_sg_joint" type="fixed">
    <!-- Parent and child -->
    <parent link="yumi_robl_tool0"/>
    <child link="yumi_robl_sg_base_link"/>
    <!-- Origin -->
    <origin rpy="0.0 0.0 0.0" xyz="0.0 0.0 0.0"/>
  </joint>
  <joint name="yumi_robr_sg_joint" type="fixed">
    <!-- Parent and child -->
    <parent link="yumi_robr_tool0"/>
    <child link="yumi_robr_sg_base_link"/>
    <!-- Origin -->
    <origin rpy="0.0 0.0 0.0" xyz="0.0 0.0 0.0"/>
  </joint>
  <!-- ============================================== Include Macros =============================================== -->
  <!-- ================================================ Main Macros ================================================ -->
  <!-- ============================================== Support Macros =============================================== -->
  <!-- ================================================ Main Macros ================================================ -->
  <!-- ============================================== Support Macros =============================================== -->
  <!-- ================================================ Main Macros ================================================ -->
  <!-- ================================================ Main Macros ================================================ -->
  <!-- ============================================== Support Macros =============================================== -->
  <!-- ================================================ Main Macros ================================================ -->
  <!-- ================================================ Main Macros ================================================ -->
  <!-- ================================================ Main Macros ================================================ -->
  <!-- ============================================== Support Macros =============================================== -->
  <link name="yumi_cs_base_link">
    <visual>
      <!-- Origin -->
      <origin rpy="0.0 0.0 0.0" xyz="0.0 0.0 0.0"/>
      <geometry>
        <mesh filename="package://abb_mp_camera_stand_description/meshes/cs_v2/visual/base_link.stl"/>
      </geometry>
      <material name="light_grey">
        <color rgba="0.6 0.6 0.6 1.0"/>
      </material>
    </visual>
    <collision>
      <!-- Origin -->
      <origin rpy="0.0 0.0 0.0" xyz="0.0 0.0 0.0"/>
      <geometry>
        <mesh filename="package://abb_mp_camera_stand_description/meshes/cs_v2/collision/base_link.stl"/>
      </geometry>
    </collision>
    <inertial>
      <!-- Origin -->
      <origin rpy="0.0 0.0 0.0" xyz="0.0 0.0 0.0"/>
      <!-- Mass -->
      <mass value="1e-05"/>
      <inertia ixx="1e-06" ixy="0.0" ixz="0.0" iyy="1e-06" iyz="0.0" izz="1e-06"/>
    </inertial>
  </link>
  <link name="yumi_cs_plate_link">
    <visual>
      <!-- Origin -->
      <origin rpy="0.0 0.0 0.0" xyz="0.0 0.0 0.0"/>
      <geometry>
        <mesh filename="package://abb_mp_camera_stand_description/meshes/cs_v2/visual/plate_link.stl"/>
      </geometry>
      <material name="dark_grey">
        <color rgba="0.3 0.3 0.3 1.0"/>
      </material>
    </visual>
    <collision>
      <!-- Origin -->
      <origin rpy="0.0 0.0 0.0" xyz="0.0 0.0 0.0"/>
      <geometry>
        <mesh filename="package://abb_mp_camera_stand_description/meshes/cs_v2/collision/plate_link.stl"/>
      </geometry>
    </collision>
    <inertial>
      <!-- Origin -->
      <origin rpy="0.0 0.0 0.0" xyz="0.0 0.0 0.0"/>
      <!-- Mass -->
      <mass value="1e-05"/>
      <inertia ixx="1e-06" ixy="0.0" ixz="0.0" iyy="1e-06" iyz="0.0" izz="1e-06"/>
    </inertial>
  </link>
  <link name="yumi_cs_attachment_link">
    <inertial>
      <!-- Mass -->
      <mass value="1.0e-5"/>
      <!-- Inertia -->
      <inertia ixx="1.0e-6" ixy="0.0" ixz="0.0" iyy="1.0e-6" iyz="0.0" izz="1.0e-6"/>
    </inertial>
  </link>
  <joint name="yumi_cs_plate_joint" type="revolute">
    <!-- Parent and child -->
    <parent link="yumi_cs_base_link"/>
    <child link="yumi_cs_plate_link"/>
    <!-- Origin -->
    <origin rpy="0.0 0.0 0.0" xyz="0.14935 0.0 0.17194"/>
    <axis xyz="0.0 1.0 0.0"/>
    <limit effort="1.0" lower="-0.7853981633974483" upper="0.7853981633974483" velocity="0.017453292519943295"/>
  </joint>
  <joint name="yumi_cs_attachment_joint" type="fixed">
    <!-- Parent and child -->
    <parent link="yumi_cs_plate_link"/>
    <child link="yumi_cs_attachment_link"/>
    <!-- Origin -->
    <origin rpy="0.0 0.0 0.0" xyz="0.015 0.0 -0.0125"/>
  </joint>
  <transmission name="yumi_cs_plate_transmission">
    <type>transmission_interface/SimpleTransmission</type>
    <joint name="yumi_cs_plate_joint">
      <hardwareInterface>hardware_interface/PositionJointInterface</hardwareInterface>
    </joint>
    <actuator name="yumi_cs_plate_joint_motor">
      <mechanicalReduction>1.0</mechanicalReduction>
    </actuator>
  </transmission>
  <gazebo reference="yumi_cs_base_link">
    <material>Gazebo/White</material>
  </gazebo>
  <gazebo reference="yumi_cs_plate_link">
    <material>Gazebo/Grey</material>
  </gazebo>
  <joint name="yumi_cs_joint" type="revolute">
    <!-- Parent and child -->
    <parent link="yumi_base_link"/>
    <child link="yumi_cs_base_link"/>
    <!-- Origin -->
    <origin rpy="0.0 0.0 0.0" xyz="-0.09 0.0 0.469"/>
    <axis xyz="0.0 0.0 1.0"/>
    <limit effort="1.0" lower="-0.7853981633974483" upper="0.7853981633974483" velocity="0.017453292519943295"/>
  </joint>
  <transmission name="yumi_cs_transmission">
    <type>transmission_interface/SimpleTransmission</type>
    <joint name="yumi_cs_joint">
      <hardwareInterface>hardware_interface/PositionJointInterface</hardwareInterface>
    </joint>
    <actuator name="yumi_cs_joint_motor">
      <mechanicalReduction>1.0</mechanicalReduction>
    </actuator>
  </transmission>
  <link name="camera_body">
    <visual>
      <origin xyz="0. 0. 0."/>
      <geometry>
        <box size="0.0994 0.0996 0.023"/>
      </geometry>
      <material name="white">
        <color rgba="0.9 0.9 0.9 1"/>
      </material>
    </visual>
    <collision>
      <origin xyz="0. 0. 0."/>
      <geometry>
        <box size="0.0994 0.0996 0.023"/>
      </geometry>
    </collision>
  </link>
  <link name="camera_base">
    <visual>
      <origin xyz="-0.013 0. 0."/>
      <geometry>
        <box size="0.026 0.103 0.039"/>
      </geometry>
      <material name="grey">
        <color rgba="0.6 0.6 0.6 1"/>
      </material>
    </visual>
    <collision>
      <origin xyz="-0.013 0. 0."/>
      <geometry>
        <box size="0.026 0.103 0.039"/>
      </geometry>
    </collision>
  </link>
  <link name="camera_visor">
    <visual>
      <origin xyz="-0.0128 0. 0."/>
      <geometry>
        <box size="0.026 0.101 0.037"/>
      </geometry>
      <material name="black">
        <color rgba="0. 0. 0. 1"/>
      </material>
    </visual>
    <collision>
      <origin xyz="-0.0128 0. 0."/>
      <geometry>
        <box size="0.026 0.101 0.037"/>
      </geometry>
    </collision>
  </link>
  <joint name="camera_base_to_body" type="fixed">
    <parent link="camera_base"/>
    <child link="camera_body"/>
    <origin rpy="0. 0. 0." xyz="-0.0757 0. 0.008"/>
  </joint>
  <joint name="camera_base_to_visor" type="fixed">
    <parent link="camera_base"/>
    <child link="camera_visor"/>
    <origin rpy="0. 0. 0." xyz="0. 0. 0."/>
  </joint>
  <gazebo reference="camera_visor">
    <material>Gazebo/Black</material>
  </gazebo>
  <joint name="cs_camera_joint" type="fixed">
    <!-- Parent and child -->
    <parent link="yumi_cs_attachment_link"/>
    <child link="camera_base"/>
    <!-- Origin -->
    <origin rpy="0.0 0.0 0.0" xyz="0.03 0.0 0.03"/>
  </joint>
</robot>
